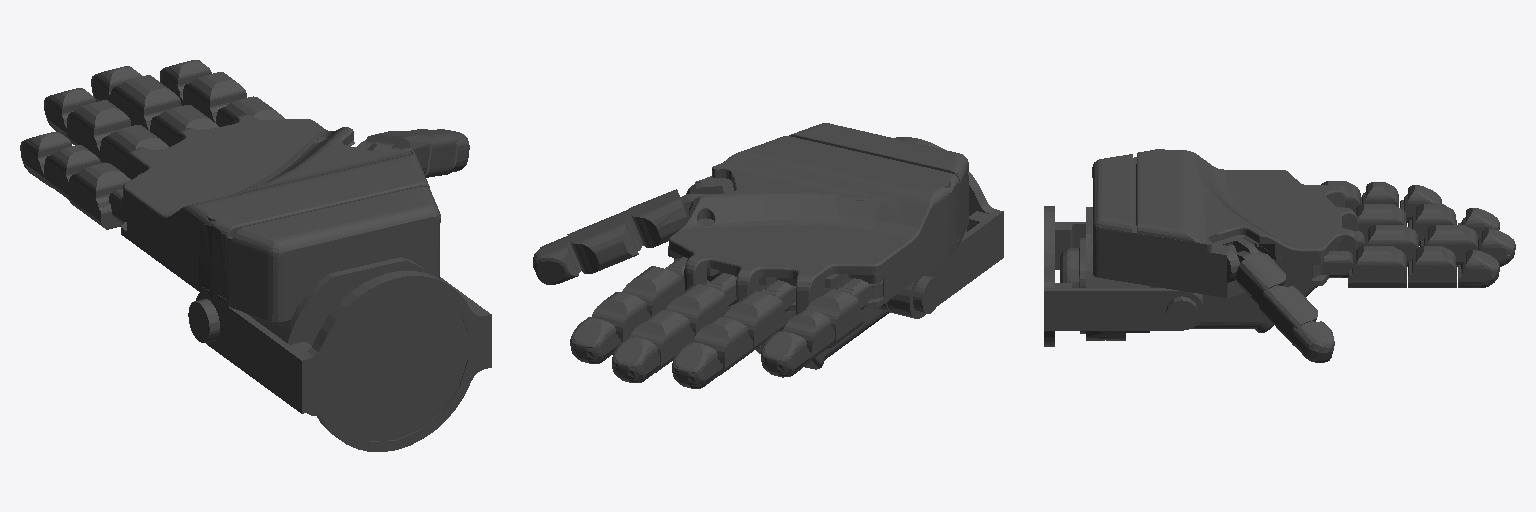
--- Facts derived from the render (not from the file) ---
Views: 3 orthographic renders of the robot side by side, from view 1: azimuth 30°, elevation 25°; view 2: azimuth 150°, elevation 25°; view 3: azimuth 270°, elevation 25°.
Robot: ur5 — 51 links, 50 joints (40 revolute, 10 fixed); root link world; default pose: all joints at 0.
Links seen in each view (by area): view 1: qbshin_palm_link, qbshin_base_link, qbshin_little_proximal_link, qbshin_middle_middle_link, qbshin_ring_middle_link, qbshin_index_middle_link, qbshin_ring_proximal_link, qbshin_little_middle_link, qbshin_middle_proximal_link, qbshin_little_distal_link, qbshin_ring_distal_link, qbshin_thumb_proximal_link (+5 smaller); view 2: qbshin_palm_link, qbshin_base_link, qbshin_thumb_proximal_link, qbshin_thumb_knuckle_link, qbshin_ring_proximal_link, qbshin_middle_middle_link, qbshin_ring_middle_link, qbshin_ring_distal_link, qbshin_little_distal_link, qbshin_middle_proximal_link, qbshin_index_distal_link, qbshin_index_proximal_link (+8 smaller); view 3: qbshin_palm_link, qbshin_base_link, qbshin_index_proximal_link, qbshin_thumb_proximal_link, qbshin_index_middle_link, qbshin_thumb_knuckle_link, qbshin_thumb_distal_link, qbshin_middle_middle_link, qbshin_index_distal_link, qbshin_middle_proximal_link, qbshin_ring_proximal_link, qbshin_ring_middle_link (+5 smaller).
Boxes of the visible links, left/top/right/bottom form: qbshin_palm_link: left=121, top=115, right=440, bottom=415; qbshin_base_link: left=188, top=271, right=491, bottom=451; qbshin_little_proximal_link: left=69, top=162, right=130, bottom=229; qbshin_middle_middle_link: left=110, top=75, right=180, bottom=130; qbshin_ring_middle_link: left=67, top=100, right=130, bottom=161; qbshin_index_middle_link: left=183, top=72, right=246, bottom=122; qbshin_ring_proximal_link: left=100, top=125, right=168, bottom=173; qbshin_little_middle_link: left=44, top=145, right=100, bottom=199; qbshin_middle_proximal_link: left=150, top=105, right=218, bottom=146; qbshin_little_distal_link: left=20, top=132, right=71, bottom=187; qbshin_ring_distal_link: left=44, top=88, right=95, bottom=136; qbshin_thumb_proximal_link: left=405, top=129, right=457, bottom=177; qbshin_palm_link: left=668, top=123, right=968, bottom=369; qbshin_base_link: left=887, top=137, right=1003, bottom=318; qbshin_thumb_proximal_link: left=567, top=209, right=643, bottom=273; qbshin_thumb_knuckle_link: left=629, top=189, right=704, bottom=247; qbshin_ring_proximal_link: left=724, top=291, right=787, bottom=351; qbshin_middle_middle_link: left=630, top=309, right=694, bottom=372; qbshin_ring_middle_link: left=693, top=317, right=752, bottom=375; qbshin_ring_distal_link: left=672, top=342, right=722, bottom=388; qbshin_little_distal_link: left=761, top=331, right=811, bottom=377; qbshin_middle_proximal_link: left=666, top=284, right=729, bottom=335; qbshin_index_distal_link: left=570, top=317, right=620, bottom=363; qbshin_index_proximal_link: left=622, top=266, right=684, bottom=315; qbshin_palm_link: left=1060, top=149, right=1357, bottom=340; qbshin_base_link: left=1044, top=206, right=1203, bottom=346; qbshin_index_proximal_link: left=1348, top=246, right=1406, bottom=287; qbshin_thumb_proximal_link: left=1259, top=285, right=1317, bottom=345; qbshin_index_middle_link: left=1408, top=246, right=1456, bottom=287; qbshin_thumb_knuckle_link: left=1235, top=251, right=1285, bottom=305; qbshin_thumb_distal_link: left=1290, top=321, right=1334, bottom=362; qbshin_middle_middle_link: left=1420, top=225, right=1477, bottom=266; qbshin_index_distal_link: left=1458, top=250, right=1499, bottom=287; qbshin_middle_proximal_link: left=1365, top=225, right=1418, bottom=266; qbshin_ring_proximal_link: left=1356, top=204, right=1406, bottom=236; qbshin_ring_middle_link: left=1408, top=204, right=1456, bottom=245.
Bounding box of the posed robot: 0.1598 × 0.2363 × 0.0839 m (x, y, z).
Meshes: 17 distinct files referenced, 21 mesh visuals loaded (10 binary STL); not drawn: 7 (reference not matched to a file when rendering).

The robot description file, URDF, robot "ur5":
<?xml version="1.0" ?>
<!-- =================================================================================== -->
<!-- |    This document was autogenerated by xacro from ur.urdf.xacro                  | -->
<!-- |    EDITING THIS FILE BY HAND IS NOT RECOMMENDED                                 | -->
<!-- =================================================================================== -->
<robot name="ur5">
  <!--
    Base UR robot series xacro macro.

    NOTE this is NOT a URDF. It cannot directly be loaded by consumers
    expecting a flattened '.urdf' file. See the top-level '.xacro' for that
    (but note that .xacro must still be processed by the xacro command).

    This file models the base kinematic chain of a UR robot, which then gets
    parameterised by various configuration files to convert it into a UR3(e),
    UR5(e), UR10(e) or UR16e.

    NOTE the default kinematic parameters (i.e., link lengths, frame locations,
    offsets, etc) do not correspond to any particular robot. They are defaults
    only. There WILL be non-zero offsets between the Forward Kinematics results
    in TF (i.e., robot_state_publisher) and the values reported by the Teach
    Pendant.

    For accurate (and robot-specific) transforms, the 'kinematics_parameters_file'
    parameter MUST point to a .yaml file containing the appropriate values for
    the targeted robot.

    If using the UniversalRobots/Universal_Robots_ROS_Driver, follow the steps
    described in the readme of that repository to extract the kinematic
    calibration from the controller and generate the required .yaml file.

    Main author of the migration to yaml configs Ludovic Delval.

    Contributors to previous versions (in no particular order)

     - Denis Stogl
     - Lovro Ivanov
     - Felix Messmer
     - Kelsey Hawkins
     - Wim Meeussen
     - Shaun Edwards
     - Nadia Hammoudeh Garcia
     - Dave Hershberger
     - G. vd. Hoorn
     - Philip Long
     - Dave Coleman
     - Miguel Prada
     - Mathias Luedtke
     - Marcel Schnirring
     - Felix von Drigalski
     - Felix Exner
     - Jimmy Da Silva
     - Ajit Krisshna N L
     - Muhammad Asif Rana
  -->
  <!--
    NOTE the macro defined in this file is NOT part of the public API of this
          package. Users CANNOT rely on this file being available, or stored in
          this location. Nor can they rely on the existence of the macro.
  -->
  <!-- create link fixed to the "world" -->
  <link name="world"/>
  <ros2_control name="ur" type="system">
    <hardware>
      <plugin>ur_robot_driver/URPositionHardwareInterface</plugin>
      <param name="robot_ip">0.0.0.0</param>
      <param name="script_filename"></param>
      <param name="output_recipe_filename"></param>
      <param name="input_recipe_filename"></param>
      <param name="headless_mode">False</param>
      <param name="reverse_port">50001</param>
      <param name="script_sender_port">50002</param>
      <param name="reverse_ip">0.0.0.0</param>
      <param name="script_command_port">50004</param>
      <param name="trajectory_port">50003</param>
      <param name="tf_prefix"></param>
      <param name="non_blocking_read">False</param>
      <param name="servoj_gain">2000</param>
      <param name="servoj_lookahead_time">0.03</param>
      <param name="use_tool_communication">False</param>
      <param name="kinematics/hash">calib_209549117540498681</param>
      <param name="tool_voltage">0</param>
      <param name="tool_parity">0</param>
      <param name="tool_baud_rate">115200</param>
      <param name="tool_stop_bits">1</param>
      <param name="tool_rx_idle_chars">1.5</param>
      <param name="tool_tx_idle_chars">3.5</param>
      <param name="tool_device_name">/tmp/ttyUR</param>
      <param name="tool_tcp_port">54321</param>
      <param name="keep_alive_count">2</param>
    </hardware>
    <joint name="shoulder_pan_joint">
      <command_interface name="position">
        <param name="min">{-2*pi}</param>
        <param name="max">{2*pi}</param>
      </command_interface>
      <command_interface name="velocity">
        <param name="min">-3.15</param>
        <param name="max">3.15</param>
      </command_interface>
      <state_interface name="position">
        <!-- initial position for the FakeSystem and simulation -->
        <param name="initial_value">0.0</param>
      </state_interface>
      <state_interface name="velocity"/>
      <state_interface name="effort"/>
    </joint>
    <joint name="shoulder_lift_joint">
      <command_interface name="position">
        <param name="min">{-2*pi}</param>
        <param name="max">{2*pi}</param>
      </command_interface>
      <command_interface name="velocity">
        <param name="min">-3.15</param>
        <param name="max">3.15</param>
      </command_interface>
      <state_interface name="position">
        <!-- initial position for the FakeSystem and simulation -->
        <param name="initial_value">-1.57</param>
      </state_interface>
      <state_interface name="velocity"/>
      <state_interface name="effort"/>
    </joint>
    <joint name="elbow_joint">
      <command_interface name="position">
        <param name="min">{-pi}</param>
        <param name="max">{pi}</param>
      </command_interface>
      <command_interface name="velocity">
        <param name="min">-3.15</param>
        <param name="max">3.15</param>
      </command_interface>
      <state_interface name="position">
        <!-- initial position for the FakeSystem and simulation -->
        <param name="initial_value">0.0</param>
      </state_interface>
      <state_interface name="velocity"/>
      <state_interface name="effort"/>
    </joint>
    <joint name="wrist_1_joint">
      <command_interface name="position">
        <param name="min">{-2*pi}</param>
        <param name="max">{2*pi}</param>
      </command_interface>
      <command_interface name="velocity">
        <param name="min">-3.2</param>
        <param name="max">3.2</param>
      </command_interface>
      <state_interface name="position">
        <!-- initial position for the FakeSystem and simulation -->
        <param name="initial_value">-1.57</param>
      </state_interface>
      <state_interface name="velocity"/>
      <state_interface name="effort"/>
    </joint>
    <joint name="wrist_2_joint">
      <command_interface name="position">
        <param name="min">{-2*pi}</param>
        <param name="max">{2*pi}</param>
      </command_interface>
      <command_interface name="velocity">
        <param name="min">-3.2</param>
        <param name="max">3.2</param>
      </command_interface>
      <state_interface name="position">
        <!-- initial position for the FakeSystem and simulation -->
        <param name="initial_value">0.0</param>
      </state_interface>
      <state_interface name="velocity"/>
      <state_interface name="effort"/>
    </joint>
    <joint name="wrist_3_joint">
      <command_interface name="position">
        <param name="min">{-2*pi}</param>
        <param name="max">{2*pi}</param>
      </command_interface>
      <command_interface name="velocity">
        <param name="min">-3.2</param>
        <param name="max">3.2</param>
      </command_interface>
      <state_interface name="position">
        <!-- initial position for the FakeSystem and simulation -->
        <param name="initial_value">0.0</param>
      </state_interface>
      <state_interface name="velocity"/>
      <state_interface name="effort"/>
    </joint>
    <sensor name="tcp_fts_sensor">
      <state_interface name="force.x"/>
      <state_interface name="force.y"/>
      <state_interface name="force.z"/>
      <state_interface name="torque.x"/>
      <state_interface name="torque.y"/>
      <state_interface name="torque.z"/>
    </sensor>
    <!-- NOTE The following are joints used only for testing with fake hardware and will change in the future -->
    <gpio name="speed_scaling">
      <state_interface name="speed_scaling_factor"/>
      <param name="initial_speed_scaling_factor">1</param>
      <command_interface name="target_speed_fraction_cmd"/>
      <command_interface name="target_speed_fraction_async_success"/>
    </gpio>
    <gpio name="gpio">
      <command_interface name="standard_digital_output_cmd_0"/>
      <command_interface name="standard_digital_output_cmd_1"/>
      <command_interface name="standard_digital_output_cmd_2"/>
      <command_interface name="standard_digital_output_cmd_3"/>
      <command_interface name="standard_digital_output_cmd_4"/>
      <command_interface name="standard_digital_output_cmd_5"/>
      <command_interface name="standard_digital_output_cmd_6"/>
      <command_interface name="standard_digital_output_cmd_7"/>
      <command_interface name="standard_digital_output_cmd_8"/>
      <command_interface name="standard_digital_output_cmd_9"/>
      <command_interface name="standard_digital_output_cmd_10"/>
      <command_interface name="standard_digital_output_cmd_11"/>
      <command_interface name="standard_digital_output_cmd_12"/>
      <command_interface name="standard_digital_output_cmd_13"/>
      <command_interface name="standard_digital_output_cmd_14"/>
      <command_interface name="standard_digital_output_cmd_15"/>
      <command_interface name="standard_digital_output_cmd_16"/>
      <command_interface name="standard_digital_output_cmd_17"/>
      <command_interface name="standard_analog_output_cmd_0"/>
      <command_interface name="standard_analog_output_cmd_1"/>
      <command_interface name="tool_voltage_cmd"/>
      <command_interface name="io_async_success"/>
      <state_interface name="digital_output_0"/>
      <state_interface name="digital_output_1"/>
      <state_interface name="digital_output_2"/>
      <state_interface name="digital_output_3"/>
      <state_interface name="digital_output_4"/>
      <state_interface name="digital_output_5"/>
      <state_interface name="digital_output_6"/>
      <state_interface name="digital_output_7"/>
      <state_interface name="digital_output_8"/>
      <state_interface name="digital_output_9"/>
      <state_interface name="digital_output_10"/>
      <state_interface name="digital_output_11"/>
      <state_interface name="digital_output_12"/>
      <state_interface name="digital_output_13"/>
      <state_interface name="digital_output_14"/>
      <state_interface name="digital_output_15"/>
      <state_interface name="digital_output_16"/>
      <state_interface name="digital_output_17"/>
      <state_interface name="digital_input_0"/>
      <state_interface name="digital_input_1"/>
      <state_interface name="digital_input_2"/>
      <state_interface name="digital_input_3"/>
      <state_interface name="digital_input_4"/>
      <state_interface name="digital_input_5"/>
      <state_interface name="digital_input_6"/>
      <state_interface name="digital_input_7"/>
      <state_interface name="digital_input_8"/>
      <state_interface name="digital_input_9"/>
      <state_interface name="digital_input_10"/>
      <state_interface name="digital_input_11"/>
      <state_interface name="digital_input_12"/>
      <state_interface name="digital_input_13"/>
      <state_interface name="digital_input_14"/>
      <state_interface name="digital_input_15"/>
      <state_interface name="digital_input_16"/>
      <state_interface name="digital_input_17"/>
      <state_interface name="standard_analog_output_0"/>
      <state_interface name="standard_analog_output_1"/>
      <state_interface name="standard_analog_input_0"/>
      <state_interface name="standard_analog_input_1"/>
      <state_interface name="analog_io_type_0"/>
      <state_interface name="analog_io_type_1"/>
      <state_interface name="analog_io_type_2"/>
      <state_interface name="analog_io_type_3"/>
      <state_interface name="tool_mode"/>
      <state_interface name="tool_output_voltage"/>
      <state_interface name="tool_output_current"/>
      <state_interface name="tool_temperature"/>
      <state_interface name="tool_analog_input_0"/>
      <state_interface name="tool_analog_input_1"/>
      <state_interface name="tool_analog_input_type_0"/>
      <state_interface name="tool_analog_input_type_1"/>
      <state_interface name="robot_mode"/>
      <state_interface name="robot_status_bit_0"/>
      <state_interface name="robot_status_bit_1"/>
      <state_interface name="robot_status_bit_2"/>
      <state_interface name="robot_status_bit_3"/>
      <state_interface name="safety_mode"/>
      <state_interface name="safety_status_bit_0"/>
      <state_interface name="safety_status_bit_1"/>
      <state_interface name="safety_status_bit_2"/>
      <state_interface name="safety_status_bit_3"/>
      <state_interface name="safety_status_bit_4"/>
      <state_interface name="safety_status_bit_5"/>
      <state_interface name="safety_status_bit_6"/>
      <state_interface name="safety_status_bit_7"/>
      <state_interface name="safety_status_bit_8"/>
      <state_interface name="safety_status_bit_9"/>
      <state_interface name="safety_status_bit_10"/>
      <state_interface name="program_running"/>
    </gpio>
    <gpio name="payload">
      <command_interface name="mass"/>
      <command_interface name="cog.x"/>
      <command_interface name="cog.y"/>
      <command_interface name="cog.z"/>
      <command_interface name="payload_async_success"/>
    </gpio>
    <gpio name="resend_robot_program">
      <command_interface name="resend_robot_program_cmd"/>
      <command_interface name="resend_robot_program_async_success"/>
    </gpio>
    <gpio name="hand_back_control">
      <command_interface name="hand_back_control_cmd"/>
      <command_interface name="hand_back_control_async_success"/>
    </gpio>
    <gpio name="zero_ftsensor">
      <command_interface name="zero_ftsensor_cmd"/>
      <command_interface name="zero_ftsensor_async_success"/>
    </gpio>
    <gpio name="system_interface">
      <state_interface name="initialized"/>
    </gpio>
  </ros2_control>
  <!-- Add URDF transmission elements (for ros_control) -->
  <!--<xacro:ur_arm_transmission prefix="${prefix}" hw_interface="${transmission_hw_interface}" />-->
  <!-- Placeholder for ros2_control transmission which don't yet exist -->
  <!-- links -  main serial chain -->
  <link name="base_link"/>
  <link name="base_link_inertia">
    <visual>
      <origin rpy="0 0 3.141592653589793" xyz="0 0 0"/>
      <geometry>
        <mesh filename="ur5/visual/base.dae"/>
      </geometry>
    </visual>
    <collision>
      <origin rpy="0 0 3.141592653589793" xyz="0 0 0"/>
      <geometry>
        <mesh filename="ur5/collision/base.stl"/>
      </geometry>
    </collision>
    <inertial>
      <mass value="4.0"/>
      <origin rpy="0 0 0" xyz="0 0 0"/>
      <inertia ixx="0.00443333156" ixy="0.0" ixz="0.0" iyy="0.00443333156" iyz="0.0" izz="0.0072"/>
    </inertial>
  </link>
  <link name="shoulder_link">
    <visual>
      <origin rpy="0 0 3.141592653589793" xyz="0 0 0"/>
      <geometry>
        <mesh filename="ur5/visual/shoulder.dae"/>
      </geometry>
    </visual>
    <collision>
      <origin rpy="0 0 3.141592653589793" xyz="0 0 0"/>
      <geometry>
        <mesh filename="ur5/collision/shoulder.stl"/>
      </geometry>
    </collision>
    <inertial>
      <mass value="3.7"/>
      <origin rpy="0 0 0" xyz="0 0 0"/>
      <inertia ixx="0.014972352344389999" ixy="0.0" ixz="0.0" iyy="0.014972352344389999" iyz="0.0" izz="0.01040625"/>
    </inertial>
  </link>
  <link name="upper_arm_link">
    <visual>
      <origin rpy="1.5707963267948966 0 -1.5707963267948966" xyz="0 0 0.13585"/>
      <geometry>
        <mesh filename="ur5/visual/upperarm.dae"/>
      </geometry>
    </visual>
    <collision>
      <origin rpy="1.5707963267948966 0 -1.5707963267948966" xyz="0 0 0.13585"/>
      <geometry>
        <mesh filename="ur5/collision/upperarm.stl"/>
      </geometry>
    </collision>
    <inertial>
      <mass value="8.393"/>
      <origin rpy="0 1.5707963267948966 0" xyz="-0.2125 0.0 0.136"/>
      <inertia ixx="0.1338857818623325" ixy="0.0" ixz="0.0" iyy="0.1338857818623325" iyz="0.0" izz="0.0151074"/>
    </inertial>
  </link>
  <link name="forearm_link">
    <visual>
      <origin rpy="1.5707963267948966 0 -1.5707963267948966" xyz="0 0 0.0165"/>
      <geometry>
        <mesh filename="ur5/visual/forearm.dae"/>
      </geometry>
    </visual>
    <collision>
      <origin rpy="1.5707963267948966 0 -1.5707963267948966" xyz="0 0 0.0165"/>
      <geometry>
        <mesh filename="ur5/collision/forearm.stl"/>
      </geometry>
    </collision>
    <inertial>
      <mass value="2.275"/>
      <origin rpy="0 1.5707963267948966 0" xyz="-0.196125 0.0 0.0165"/>
      <inertia ixx="0.03121679102890359" ixy="0.0" ixz="0.0" iyy="0.03121679102890359" iyz="0.0" izz="0.004095"/>
    </inertial>
  </link>
  <link name="wrist_1_link">
    <visual>
      <origin rpy="1.5707963267948966 0 0" xyz="0 0 -0.093"/>
      <geometry>
        <mesh filename="ur5/visual/wrist1.dae"/>
      </geometry>
    </visual>
    <collision>
      <origin rpy="1.5707963267948966 0 0" xyz="0 0 -0.093"/>
      <geometry>
        <mesh filename="ur5/collision/wrist1.stl"/>
      </geometry>
    </collision>
    <inertial>
      <mass value="1.219"/>
      <origin rpy="0 0 0" xyz="0 0 0"/>
      <inertia ixx="0.0020138887777775" ixy="0.0" ixz="0.0" iyy="0.0020138887777775" iyz="0.0" izz="0.0021942"/>
    </inertial>
  </link>
  <link name="wrist_2_link">
    <visual>
      <origin rpy="0 0 0" xyz="0 0 -0.095"/>
      <geometry>
        <mesh filename="ur5/visual/wrist2.dae"/>
      </geometry>
    </visual>
    <collision>
      <origin rpy="0 0 0" xyz="0 0 -0.095"/>
      <geometry>
        <mesh filename="ur5/collision/wrist2.stl"/>
      </geometry>
    </collision>
    <inertial>
      <mass value="1.219"/>
      <origin rpy="0 0 0" xyz="0 0 0"/>
      <inertia ixx="0.0018310388509175" ixy="0.0" ixz="0.0" iyy="0.0018310388509175" iyz="0.0" izz="0.0021942"/>
    </inertial>
  </link>
  <link name="wrist_3_link">
    <visual>
      <origin rpy="1.5707963267948966 0 0" xyz="0 0 -0.0818"/>
      <geometry>
        <mesh filename="ur5/visual/wrist3.dae"/>
      </geometry>
    </visual>
    <collision>
      <origin rpy="1.5707963267948966 0 0" xyz="0 0 -0.0818"/>
      <geometry>
        <mesh filename="ur5/collision/wrist3.stl"/>
      </geometry>
    </collision>
    <inertial>
      <mass value="0.1879"/>
      <origin rpy="0 0 0" xyz="0.0 0.0 -0.01525"/>
      <inertia ixx="8.062472608343e-05" ixy="0.0" ixz="0.0" iyy="8.062472608343e-05" iyz="0.0" izz="0.0001321171875"/>
    </inertial>
  </link>
  <!-- base_joint fixes base_link to the environment -->
  <joint name="base_joint" type="fixed">
    <origin rpy="0 0 0" xyz="0 0 0"/>
    <parent link="world"/>
    <child link="base_link"/>
  </joint>
  <!-- joints - main serial chain -->
  <joint name="base_link-base_link_inertia" type="fixed">
    <parent link="base_link"/>
    <child link="base_link_inertia"/>
    <!-- 'base_link' is REP-103 aligned (so X+ forward), while the internal
           frames of the robot/controller have X+ pointing backwards.
           Use the joint between 'base_link' and 'base_link_inertia' (a dummy
           link/frame) to introduce the necessary rotation over Z (of pi rad).
      -->
    <origin rpy="0 0 3.141592653589793" xyz="0 0 0"/>
  </joint>
  <joint name="shoulder_pan_joint" type="revolute">
    <parent link="base_link_inertia"/>
    <child link="shoulder_link"/>
    <origin rpy="0 0 0" xyz="0 0 0.089159"/>
    <axis xyz="0 0 1"/>
    <limit effort="150.0" lower="-6.283185307179586" upper="6.283185307179586" velocity="3.141592653589793"/>
    <dynamics damping="0" friction="0"/>
  </joint>
  <joint name="shoulder_lift_joint" type="revolute">
    <parent link="shoulder_link"/>
    <child link="upper_arm_link"/>
    <origin rpy="1.570796327 0 0" xyz="0 0 0"/>
    <axis xyz="0 0 1"/>
    <limit effort="150.0" lower="-6.283185307179586" upper="6.283185307179586" velocity="3.141592653589793"/>
    <dynamics damping="0" friction="0"/>
  </joint>
  <joint name="elbow_joint" type="revolute">
    <parent link="upper_arm_link"/>
    <child link="forearm_link"/>
    <origin rpy="0 0 0" xyz="-0.425 0 0"/>
    <axis xyz="0 0 1"/>
    <limit effort="150.0" lower="-3.141592653589793" upper="3.141592653589793" velocity="3.141592653589793"/>
    <dynamics damping="0" friction="0"/>
  </joint>
  <joint name="wrist_1_joint" type="revolute">
    <parent link="forearm_link"/>
    <child link="wrist_1_link"/>
    <origin rpy="0 0 0" xyz="-0.39225 0 0.10915"/>
    <axis xyz="0 0 1"/>
    <limit effort="28.0" lower="-6.283185307179586" upper="6.283185307179586" velocity="3.141592653589793"/>
    <dynamics damping="0" friction="0"/>
  </joint>
  <joint name="wrist_2_joint" type="revolute">
    <parent link="wrist_1_link"/>
    <child link="wrist_2_link"/>
    <origin rpy="1.570796327 0 0" xyz="0 -0.09465 -1.941303950897609e-11"/>
    <axis xyz="0 0 1"/>
    <limit effort="28.0" lower="-6.283185307179586" upper="6.283185307179586" velocity="3.141592653589793"/>
    <dynamics damping="0" friction="0"/>
  </joint>
  <joint name="wrist_3_joint" type="revolute">
    <parent link="wrist_2_link"/>
    <child link="wrist_3_link"/>
    <origin rpy="1.570796326589793 3.141592653589793 3.141592653589793" xyz="0 0.0823 -1.688001216681175e-11"/>
    <axis xyz="0 0 1"/>
    <limit effort="28.0" lower="-6.283185307179586" upper="6.283185307179586" velocity="3.141592653589793"/>
    <dynamics damping="0" friction="0"/>
  </joint>
  <link name="ft_frame"/>
  <joint name="wrist_3_link-ft_frame" type="fixed">
    <parent link="wrist_3_link"/>
    <child link="ft_frame"/>
    <origin rpy="3.141592653589793 0 0" xyz="0 0 0"/>
  </joint>
  <!-- ROS-Industrial 'base' frame - base_link to UR 'Base' Coordinates transform -->
  <link name="base"/>
  <joint name="base_link-base_fixed_joint" type="fixed">
    <!-- Note the rotation over Z of pi radians - as base_link is REP-103
           aligned (i.e., has X+ forward, Y+ left and Z+ up), this is needed
           to correctly align 'base' with the 'Base' coordinate system of
           the UR controller.
      -->
    <origin rpy="0 0 3.141592653589793" xyz="0 0 0"/>
    <parent link="base_link"/>
    <child link="base"/>
  </joint>
  <!-- ROS-Industrial 'flange' frame - attachment point for EEF models -->
  <link name="flange"/>
  <joint name="wrist_3-flange" type="fixed">
    <parent link="wrist_3_link"/>
    <child link="flange"/>
    <origin rpy="0 -1.5707963267948966 -1.5707963267948966" xyz="0 0 0"/>
  </joint>
  <!-- ROS-Industrial 'tool0' frame - all-zeros tool frame -->
  <link name="tool0"/>
  <joint name="flange-tool0" type="fixed">
    <!-- default toolframe - X+ left, Y+ up, Z+ front -->
    <origin rpy="1.5707963267948966 0 1.5707963267948966" xyz="0 0 0"/>
    <parent link="flange"/>
    <child link="tool0"/>
  </joint>

  <material name="qbshin/optional">
    <color rgba="0.0 0.5 0.8 1.0"/>
  </material>
  <material name="qbshin/base">
    <color rgba="0.35 0.35 0.35 1.0"/>
  </material>
  <material name="qbshin/palm">
    <color rgba="0.35 0.35 0.35 1.0"/>
  </material>
  <material name="qbshin/knuckle">
    <color rgba="0.35 0.35 0.35 1.0"/>
  </material>
  <material name="qbshin/proximal">
    <color rgba="0.35 0.35 0.35 1.0"/>
  </material>
  <material name="qbshin/middle">
    <color rgba="0.35 0.35 0.35 1.0"/>
  </material>
  <material name="qbshin/distal">
    <color rgba="0.35 0.35 0.35 1.0"/>
  </material>
  <material name="qbshin/default">
    <color rgba="0.35 0.35 0.35 1.0"/>
  </material>
  <link name="root_link"/>
  <joint name="qbshin_base_fixed_joint" type="fixed">
    <origin rpy="0 0 0" xyz="0 0 0"/>
    <parent link="root_link"/>
    <child link="qbshin_base_link"/>
  </joint>
  <link name="qbshin_base_link">
    <inertial>
      <mass value="0.45"/>
      <origin rpy="0 0 0" xyz="0.0030 -0.0449 0.0135"/>
      <inertia ixx="0.00045" ixy="0.0" ixz="0.0" iyy="0.0006" iyz="0.0" izz="0.00025"/>
    </inertial>
    <visual>
      <origin rpy="0 0 0" xyz="0 0 0"/>
      <geometry>
        <mesh filename="package://meshes/shin_wrist_urdf.stl" scale="0.001 0.001 0.001"/>
      </geometry>
      <material name="qbshin/base"/>
    </visual>
    <collision>
      <origin rpy="0 0 0" xyz="0 0 0"/>
      <geometry>
        <mesh filename="package://meshes/shin_wrist_urdf.stl" scale="0.001 0.001 0.001"/>
      </geometry>
    </collision>
  </link>
  <gazebo reference="qbshin_base_link">
    <self_collide>1</self_collide>
    <!-- TODO: add other Gazebo Link properties (http://sdformat.org/spec?elem=link) -->
    <!--      <collision>-->
    <!--        <surface>-->
    <!--          <contact>-->
    <!--            <ode>-->
    <!--              <kp>1.0</kp>-->
    <!--              <kd>0.01</kd>-->
    <!--              <max_vel>0.0</max_vel>-->
    <!--              <min_depth>0.001</min_depth>-->
    <!--            </ode>-->
    <!--          </contact>-->
    <!--          <friction>-->
    <!--            <ode>-->
    <!--              <mu>0.9</mu>-->
    <!--              <mu2>0.9</mu2>-->
    <!--            </ode>-->
    <!--          </friction>-->
    <!--        </surface>-->
    <!--      </collision>-->
  </gazebo>
  <joint name="qbshin_palm_fixed_joint" type="fixed">
    <origin rpy="1.57 0 0" xyz="-0.005 0.0 0.071"/>
    <parent link="qbshin_base_link"/>
    <child link="qbshin_palm_link"/>
  </joint>
  <link name="qbshin_palm_link">
    <inertial>
      <mass value="0.45"/>
      <origin rpy="0 0 0" xyz="0.0030 -0.0449 -0.0135"/>
      <inertia ixx="0.00045" ixy="0.0" ixz="0.0" iyy="0.0006" iyz="0.0" izz="0.00025"/>
    </inertial>
    <visual>
      <origin rpy="0 0 0" xyz="0 0 0"/>
      <geometry>
        <mesh filename="package://meshes/shin_frame_urdf.stl" scale="0.001 0.001 0.001"/>
      </geometry>
      <material name="qbshin/palm"/>
    </visual>
    <collision>
      <origin rpy="0 0 0" xyz="0 0 0"/>
      <geometry>
        <mesh filename="package://meshes/shin_frame_urdf.stl" scale="0.001 0.001 0.001"/>
      </geometry>
    </collision>
  </link>
  <gazebo reference="qbshin_palm_link">
    <self_collide>1</self_collide>
    <!-- TODO: add other Gazebo Link properties (http://sdformat.org/spec?elem=link) -->
    <!--      <collision>-->
    <!--        <surface>-->
    <!--          <contact>-->
    <!--            <ode>-->
    <!--              <kp>1.0</kp>-->
    <!--              <kd>0.01</kd>-->
    <!--              <max_vel>0.0</max_vel>-->
    <!--              <min_depth>0.001</min_depth>-->
    <!--            </ode>-->
    <!--          </contact>-->
    <!--          <friction>-->
    <!--            <ode>-->
    <!--              <mu>0.9</mu>-->
    <!--              <mu2>0.9</mu2>-->
    <!--            </ode>-->
    <!--          </friction>-->
    <!--        </surface>-->
    <!--      </collision>-->
  </gazebo>
  <joint name="qbshin_synergy_joint" type="revolute">
    <origin rpy="0 0 0" xyz="0 0 0"/>
    <parent link="qbshin_palm_link"/>
    <child link="qbshin_synergy_tendon_virtual_link"/>
    <axis xyz="0 0 1"/>
    <dynamics damping="0.0" friction="0.0"/>
    <limit effort="100" lower="0.0" upper="1.0" velocity="100"/>
  </joint>
  <transmission name="qbshin_synergy_transmission">
    <type>transmission_interface/qbMoveTransmission</type>
    <joint name="qbshin_synergy_joint">
      <hardwareInterface>hardware_interface/EffortJointInterface</hardwareInterface>
    </joint>
    <actuator name="qbshin_synergy_joint">
      <hardwareInterface>hardware_interface/EffortJointInterface</hardwareInterface>
    </actuator>
  </transmission>
  <link name="qbshin_synergy_tendon_virtual_link">
    <inertial>
      <origin rpy="0 0 0" xyz="0 0 0"/>
      <mass value="1e-4"/>
      <inertia ixx="1e-9" ixy="0.0" ixz="0.0" iyy="1e-9" iyz="0.0" izz="1e-9"/>
    </inertial>
  </link>
  <joint name="qbshin_thumb_knuckle_joint" type="revolute">
    <origin rpy="-1.57 3.5 -0.68" xyz="-0.044 0.027 -0.03"/>
    <parent link="qbshin_palm_link"/>
    <child link="qbshin_thumb_knuckle_link"/>
    <axis xyz="0 0 -1"/>
    <dynamics damping="0.0" friction="0.0"/>
    <limit effort="100" lower="0.0" upper="1.571" velocity="100"/>
    <mimic joint="qbshin_synergy_joint" multiplier="2.542"/>
  </joint>
  <transmission name="qbshin_transmission">
    <type>transmission_interface/qbMoveTransmission</type>
    <joint name="qbshin_thumb_knuckle_joint">
      <hardwareInterface>hardware_interface/EffortJointInterface</hardwareInterface>
    </joint>
    <actuator name="qbshin_thumb_knuckle_joint">
      <hardwareInterface>hardware_interface/EffortJointInterface</hardwareInterface>
    </actuator>
  </transmission>
  <gazebo reference="qbshin_thumb_knuckle_joint">
    <!-- TODO: add other Gazebo Joint properties (http://sdformat.org/spec?elem=joint) -->
  </gazebo>
  <link name="qbshin_thumb_knuckle_link">
    <inertial>
      <mass value="0.01"/>
      <origin rpy="0 0 0" xyz="1.3071561e-02 -2.7357764e-03 6.4347823e-04"/>
      <inertia ixx="3.5865978e-07" ixy="2.0944224e-07" ixz="-6.8657569e-08" iyy="1.3885564e-06" iyz="3.2170608e-08" izz="1.3571203e-06"/>
    </inertial>
    <visual>
      <origin rpy="0 0 0" xyz="0 0 0"/>
      <geometry>
        <mesh filename="package://meshes/sh_ph_thumb_inj_d9_r_urdf.stl" scale="0.001 0.001 0.001"/>
      </geometry>
      <material name="qbshin/knuckle"/>
    </visual>
    <collision>
      <origin rpy="0 0 0" xyz="0 0 0"/>
      <geometry>
        <mesh filename="package://meshes/sh_ph_thumb_inj_d9_r_urdf.stl" scale="0.001 0.001 0.001"/>
      </geometry>
    </collision>
  </link>
  <gazebo reference="qbshin_thumb_knuckle_link">
    <self_collide>1</self_collide>
    <!-- TODO: add other Gazebo Link properties (http://sdformat.org/spec?elem=link) -->
    <!--      <collision>-->
    <!--        <surface>-->
    <!--          <contact>-->
    <!--            <ode>-->
    <!--              <kp>1.0</kp>-->
    <!--              <kd>0.01</kd>-->
    <!--              <max_vel>0.0</max_vel>-->
    <!--              <min_depth>0.001</min_depth>-->
    <!--            </ode>-->
    <!--          </contact>-->
    <!--          <friction>-->
    <!--            <ode>-->
    <!--              <mu>0.9</mu>-->
    <!--              <mu2>0.9</mu2>-->
    <!--            </ode>-->
    <!--          </friction>-->
    <!--        </surface>-->
    <!--      </collision>-->
  </gazebo>
  <joint name="qbshin_thumb_proximal_joint" type="revolute">
    <origin rpy="-1.57 0.0 0.0" xyz="0.02 -0.003 0"/>
    <parent link="qbshin_thumb_knuckle_link"/>
    <child link="qbshin_thumb_proximal_virtual_link"/>
    <axis xyz="0 0 -1"/>
    <dynamics damping="0.0" friction="0.0"/>
    <limit effort="100" lower="0.0" upper="0.785" velocity="100"/>
    <mimic joint="qbshin_synergy_joint" multiplier="0.785"/>
  </joint>
  <transmission name="qbshin_transmission">
    <type>transmission_interface/qbMoveTransmission</type>
    <joint name="qbshin_thumb_proximal_joint">
      <hardwareInterface>hardware_interface/EffortJointInterface</hardwareInterface>
    </joint>
    <actuator name="qbshin_thumb_proximal_joint">
      <hardwareInterface>hardware_interface/EffortJointInterface</hardwareInterface>
    </actuator>
  </transmission>
  <gazebo reference="qbshin_thumb_proximal_joint">
    <!-- TODO: add other Gazebo Joint properties (http://sdformat.org/spec?elem=joint) -->
  </gazebo>
  <link name="qbshin_thumb_proximal_virtual_link">
    <inertial>
      <origin rpy="0 0 0" xyz="0 0 0"/>
      <mass value="1e-4"/>
      <inertia ixx="1e-9" ixy="0.0" ixz="0.0" iyy="1e-9" iyz="0.0" izz="1e-9"/>
    </inertial>
  </link>
  <joint name="qbshin_thumb_proximal_virtual_joint" type="revolute">
    <origin rpy="0 0 0" xyz="0.013 0 0"/>
    <parent link="qbshin_thumb_proximal_virtual_link"/>
    <child link="qbshin_thumb_proximal_link"/>
    <axis xyz="0 0 -1"/>
    <dynamics damping="0.0" friction="0.0"/>
    <limit effort="100" lower="0.0" upper="0.785" velocity="100"/>
    <mimic joint="qbshin_thumb_proximal_joint" multiplier="1.0"/>
  </joint>
  <transmission name="qbshin_transmission">
    <type>transmission_interface/qbMoveTransmission</type>
    <joint name="qbshin_thumb_proximal_virtual_joint">
      <hardwareInterface>hardware_interface/EffortJointInterface</hardwareInterface>
    </joint>
    <actuator name="qbshin_thumb_proximal_virtual_joint">
      <hardwareInterface>hardware_interface/EffortJointInterface</hardwareInterface>
    </actuator>
  </transmission>
  <gazebo reference="qbshin_thumb_proximal_virtual_joint">
    <!-- TODO: add other Gazebo Joint properties (http://sdformat.org/spec?elem=joint) -->
  </gazebo>
  <link name="qbshin_thumb_proximal_link">
    <inertial>
      <mass value="0.0082"/>
      <origin rpy="0 0 0" xyz="8.7707437e-03 -1.7863138e-03 0.0"/>
      <inertia ixx="2.2722068e-07" ixy="1.1586053e-08" ixz="0.0" iyy="5.5947233e-07" iyz="0.0" izz="5.9562195e-07"/>
    </inertial>
    <visual>
      <origin rpy="0 0 0" xyz="0 0 0"/>
      <geometry>
        <mesh filename="package://meshes/mc_h_pad_30_urdf.stl" scale="0.001 0.001 0.001"/>
      </geometry>
      <material name="qbshin/proximal"/>
    </visual>
    <collision>
      <origin rpy="0 0 0" xyz="0 0 0"/>
      <geometry>
        <mesh filename="package://meshes/mc_h_pad_30_urdf.stl" scale="0.001 0.001 0.001"/>
      </geometry>
    </collision>
  </link>
  <gazebo reference="qbshin_thumb_proximal_link">
    <self_collide>1</self_collide>
    <!-- TODO: add other Gazebo Link properties (http://sdformat.org/spec?elem=link) -->
    <!--      <collision>-->
    <!--        <surface>-->
    <!--          <contact>-->
    <!--            <ode>-->
    <!--              <kp>1.0</kp>-->
    <!--              <kd>0.01</kd>-->
    <!--              <max_vel>0.0</max_vel>-->
    <!--              <min_depth>0.001</min_depth>-->
    <!--            </ode>-->
    <!--          </contact>-->
    <!--          <friction>-->
    <!--            <ode>-->
    <!--              <mu>0.9</mu>-->
    <!--              <mu2>0.9</mu2>-->
    <!--            </ode>-->
    <!--          </friction>-->
    <!--        </surface>-->
    <!--      </collision>-->
  </gazebo>
  <joint name="qbshin_thumb_distal_joint" type="revolute">
    <origin rpy="0.0 0.0 0.0" xyz="0.014 0.002 0"/>
    <parent link="qbshin_thumb_proximal_link"/>
    <child link="qbshin_thumb_distal_virtual_link"/>
    <axis xyz="0 0 -1"/>
    <dynamics damping="0.0" friction="0.0"/>
    <limit effort="100" lower="0.0" upper="0.785" velocity="100"/>
    <mimic joint="qbshin_synergy_joint" multiplier="0.785"/>
  </joint>
  <transmission name="qbshin_transmission">
    <type>transmission_interface/qbMoveTransmission</type>
    <joint name="qbshin_thumb_distal_joint">
      <hardwareInterface>hardware_interface/EffortJointInterface</hardwareInterface>
    </joint>
    <actuator name="qbshin_thumb_distal_joint">
      <hardwareInterface>hardware_interface/EffortJointInterface</hardwareInterface>
    </actuator>
  </transmission>
  <gazebo reference="qbshin_thumb_distal_joint">
    <!-- TODO: add other Gazebo Joint properties (http://sdformat.org/spec?elem=joint) -->
  </gazebo>
  <link name="qbshin_thumb_distal_virtual_link">
    <inertial>
      <origin rpy="0 0 0" xyz="0 0 0"/>
      <mass value="1e-4"/>
      <inertia ixx="1e-9" ixy="0.0" ixz="0.0" iyy="1e-9" iyz="0.0" izz="1e-9"/>
    </inertial>
  </link>
  <joint name="qbshin_thumb_distal_virtual_joint" type="revolute">
    <origin rpy="0 0 0" xyz="0.013 0 0"/>
    <parent link="qbshin_thumb_distal_virtual_link"/>
    <child link="qbshin_thumb_distal_link"/>
    <axis xyz="0 0 -1"/>
    <dynamics damping="0.0" friction="0.0"/>
    <limit effort="100" lower="0.0" upper="0.785" velocity="100"/>
    <mimic joint="qbshin_thumb_distal_joint" multiplier="1.0"/>
  </joint>
  <transmission name="qbshin_transmission">
    <type>transmission_interface/qbMoveTransmission</type>
    <joint name="qbshin_thumb_distal_virtual_joint">
      <hardwareInterface>hardware_interface/EffortJointInterface</hardwareInterface>
    </joint>
    <actuator name="qbshin_thumb_distal_virtual_joint">
      <hardwareInterface>hardware_interface/EffortJointInterface</hardwareInterface>
    </actuator>
  </transmission>
  <gazebo reference="qbshin_thumb_distal_virtual_joint">
    <!-- TODO: add other Gazebo Joint properties (http://sdformat.org/spec?elem=joint) -->
  </gazebo>
  <link name="qbshin_thumb_distal_link">
    <inertial>
      <mass value="0.009"/>
      <origin rpy="0 0 0" xyz="8.8025467e-03 -1.7219289e-03 0.0"/>
      <inertia ixx="2.6586142e-07" ixy="1.2416847e-08" ixz="0.0" iyy="5.9935767e-07" iyz="0.0" izz="6.6781963e-07"/>
    </inertial>
    <visual>
      <origin rpy="0 0 0" xyz="0 0 0"/>
      <geometry>
        <mesh filename="package://meshes/mc_h_pad_dist_urdf.stl" scale="0.001 0.001 0.001"/>
      </geometry>
      <material name="qbshin/distal"/>
    </visual>
    <collision>
      <origin rpy="0 0 0" xyz="0 0 0"/>
      <geometry>
        <mesh filename="package://meshes/mc_h_pad_dist_urdf.stl" scale="0.001 0.001 0.001"/>
      </geometry>
    </collision>
  </link>
  <gazebo reference="qbshin_thumb_distal_link">
    <self_collide>1</self_collide>
    <!-- TODO: add other Gazebo Link properties (http://sdformat.org/spec?elem=link) -->
    <!--      <collision>-->
    <!--        <surface>-->
    <!--          <contact>-->
    <!--            <ode>-->
    <!--              <kp>1.0</kp>-->
    <!--              <kd>0.01</kd>-->
    <!--              <max_vel>0.0</max_vel>-->
    <!--              <min_depth>0.001</min_depth>-->
    <!--            </ode>-->
    <!--          </contact>-->
    <!--          <friction>-->
    <!--            <ode>-->
    <!--              <mu>0.9</mu>-->
    <!--              <mu2>0.9</mu2>-->
    <!--            </ode>-->
    <!--          </friction>-->
    <!--        </surface>-->
    <!--      </collision>-->
  </gazebo>
  <joint name="qbshin_index_knuckle_joint" type="revolute">
    <origin rpy="1.57 0 1.57" xyz="-0.032 0.062 -0.022"/>
    <parent link="qbshin_palm_link"/>
    <child link="qbshin_index_knuckle_link"/>
    <axis xyz="0 0 -1"/>
    <dynamics damping="0.0" friction="0.0"/>
    <limit effort="100" lower="-0.524" upper="0.524" velocity="100"/>
    <mimic joint="qbshin_synergy_joint" multiplier="-0.2"/>
  </joint>
  <transmission name="qbshin_transmission">
    <type>transmission_interface/qbMoveTransmission</type>
    <joint name="qbshin_index_knuckle_joint">
      <hardwareInterface>hardware_interface/EffortJointInterface</hardwareInterface>
    </joint>
    <actuator name="qbshin_index_knuckle_joint">
      <hardwareInterface>hardware_interface/EffortJointInterface</hardwareInterface>
    </actuator>
  </transmission>
  <gazebo reference="qbshin_index_knuckle_joint">
    <!-- TODO: add other Gazebo Joint properties (http://sdformat.org/spec?elem=joint) -->
  </gazebo>
  <link name="qbshin_index_knuckle_link">
    <inertial>
      <mass value="0.0095"/>
      <origin rpy="0 0 0" xyz="4.2753603e-04  0.0 -1.4321738e-03"/>
      <inertia ixx="6.4337303e-07" ixy="0.0" ixz="-3.9373913e-08" iyy="1.1253771e-06" iyz="0.0" izz="7.2336948e-07"/>
    </inertial>
    <visual>
      <origin rpy="0 0 0" xyz="0 0 0"/>
      <geometry>
        <mesh filename="package://meshes/sh_ph_prx_inj_d9_l_urdf.stl" scale="0.001 0.001 0.001"/>
      </geometry>
      <material name="qbshin/knuckle"/>
    </visual>
    <collision>
      <origin rpy="0 0 0" xyz="0 0 0"/>
      <geometry>
        <mesh filename="package://meshes/sh_ph_prx_inj_d9_l_urdf.stl" scale="0.001 0.001 0.001"/>
      </geometry>
    </collision>
  </link>
  <gazebo reference="qbshin_index_knuckle_link">
    <self_collide>1</self_collide>
    <!-- TODO: add other Gazebo Link properties (http://sdformat.org/spec?elem=link) -->
    <!--      <collision>-->
    <!--        <surface>-->
    <!--          <contact>-->
    <!--            <ode>-->
    <!--              <kp>1.0</kp>-->
    <!--              <kd>0.01</kd>-->
    <!--              <max_vel>0.0</max_vel>-->
    <!--              <min_depth>0.001</min_depth>-->
    <!--            </ode>-->
    <!--          </contact>-->
    <!--          <friction>-->
    <!--            <ode>-->
    <!--              <mu>0.9</mu>-->
    <!--              <mu2>0.9</mu2>-->
    <!--            </ode>-->
    <!--          </friction>-->
    <!--        </surface>-->
    <!--      </collision>-->
  </gazebo>
  <joint name="qbshin_index_proximal_joint" type="revolute">
    <origin rpy="0.0 0.0 0.0" xyz="0.01 0 0.002"/>
    <parent link="qbshin_index_knuckle_link"/>
    <child link="qbshin_index_proximal_virtual_link"/>
    <axis xyz="0 0 -1"/>
    <dynamics damping="0.0" friction="0.0"/>
    <limit effort="100" lower="0.0" upper="0.785" velocity="100"/>
    <mimic joint="qbshin_synergy_joint" multiplier="0.785"/>
  </joint>
  <transmission name="qbshin_transmission">
    <type>transmission_interface/qbMoveTransmission</type>
    <joint name="qbshin_index_proximal_joint">
      <hardwareInterface>hardware_interface/EffortJointInterface</hardwareInterface>
    </joint>
    <actuator name="qbshin_index_proximal_joint">
      <hardwareInterface>hardware_interface/EffortJointInterface</hardwareInterface>
    </actuator>
  </transmission>
  <gazebo reference="qbshin_index_proximal_joint">
    <!-- TODO: add other Gazebo Joint properties (http://sdformat.org/spec?elem=joint) -->
  </gazebo>
  <link name="qbshin_index_proximal_virtual_link">
    <inertial>
      <origin rpy="0 0 0" xyz="0 0 0"/>
      <mass value="1e-4"/>
      <inertia ixx="1e-9" ixy="0.0" ixz="0.0" iyy="1e-9" iyz="0.0" izz="1e-9"/>
    </inertial>
  </link>
  <joint name="qbshin_index_proximal_virtual_joint" type="revolute">
    <origin rpy="0 0 0" xyz="0.013 0 0"/>
    <parent link="qbshin_index_proximal_virtual_link"/>
    <child link="qbshin_index_proximal_link"/>
    <axis xyz="0 0 -1"/>
    <dynamics damping="0.0" friction="0.0"/>
    <limit effort="100" lower="0.0" upper="0.785" velocity="100"/>
    <mimic joint="qbshin_index_proximal_joint" multiplier="1.0"/>
  </joint>
  <transmission name="qbshin_transmission">
    <type>transmission_interface/qbMoveTransmission</type>
    <joint name="qbshin_index_proximal_virtual_joint">
      <hardwareInterface>hardware_interface/EffortJointInterface</hardwareInterface>
    </joint>
    <actuator name="qbshin_index_proximal_virtual_joint">
      <hardwareInterface>hardware_interface/EffortJointInterface</hardwareInterface>
    </actuator>
  </transmission>
  <gazebo reference="qbshin_index_proximal_virtual_joint">
    <!-- TODO: add other Gazebo Joint properties (http://sdformat.org/spec?elem=joint) -->
  </gazebo>
  <link name="qbshin_index_proximal_link">
    <inertial>
      <mass value="0.0082"/>
      <origin rpy="0 0 0" xyz="8.7707437e-03 -1.7863138e-03 0.0"/>
      <inertia ixx="2.2722068e-07" ixy="1.1586053e-08" ixz="0.0" iyy="5.5947233e-07" iyz="0.0" izz="5.9562195e-07"/>
    </inertial>
    <visual>
      <origin rpy="0 0 0" xyz="0 0 0"/>
      <geometry>
        <mesh filename="package://meshes/mc_h_pad_30_urdf.stl" scale="0.001 0.001 0.001"/>
      </geometry>
      <material name="qbshin/proximal"/>
    </visual>
    <collision>
      <origin rpy="0 0 0" xyz="0 0 0"/>
      <geometry>
        <mesh filename="package://meshes/mc_h_pad_30_urdf.stl" scale="0.001 0.001 0.001"/>
      </geometry>
    </collision>
  </link>
  <gazebo reference="qbshin_index_proximal_link">
    <self_collide>1</self_collide>
    <!-- TODO: add other Gazebo Link properties (http://sdformat.org/spec?elem=link) -->
    <!--      <collision>-->
    <!--        <surface>-->
    <!--          <contact>-->
    <!--            <ode>-->
    <!--              <kp>1.0</kp>-->
    <!--              <kd>0.01</kd>-->
    <!--              <max_vel>0.0</max_vel>-->
    <!--              <min_depth>0.001</min_depth>-->
    <!--            </ode>-->
    <!--          </contact>-->
    <!--          <friction>-->
    <!--            <ode>-->
    <!--              <mu>0.9</mu>-->
    <!--              <mu2>0.9</mu2>-->
    <!--            </ode>-->
    <!--          </friction>-->
    <!--        </surface>-->
    <!--      </collision>-->
  </gazebo>
  <joint name="qbshin_index_middle_joint" type="revolute">
    <origin rpy="0 0 0" xyz="0.017 0 0"/>
    <parent link="qbshin_index_proximal_link"/>
    <child link="qbshin_index_middle_virtual_link"/>
    <axis xyz="0 0 -1"/>
    <dynamics damping="0.0" friction="0.0"/>
    <limit effort="100" lower="0.0" upper="0.785" velocity="100"/>
    <mimic joint="qbshin_synergy_joint" multiplier="0.785"/>
  </joint>
  <transmission name="qbshin_transmission">
    <type>transmission_interface/qbMoveTransmission</type>
    <joint name="qbshin_index_middle_joint">
      <hardwareInterface>hardware_interface/EffortJointInterface</hardwareInterface>
    </joint>
    <actuator name="qbshin_index_middle_joint">
      <hardwareInterface>hardware_interface/EffortJointInterface</hardwareInterface>
    </actuator>
  </transmission>
  <gazebo reference="qbshin_index_middle_joint">
    <!-- TODO: add other Gazebo Joint properties (http://sdformat.org/spec?elem=joint) -->
  </gazebo>
  <link name="qbshin_index_middle_virtual_link">
    <inertial>
      <origin rpy="0 0 0" xyz="0 0 0"/>
      <mass value="1e-4"/>
      <inertia ixx="1e-9" ixy="0.0" ixz="0.0" iyy="1e-9" iyz="0.0" izz="1e-9"/>
    </inertial>
  </link>
  <joint name="qbshin_index_middle_virtual_joint" type="revolute">
    <origin rpy="0 0 0" xyz="0.013 0 0"/>
    <parent link="qbshin_index_middle_virtual_link"/>
    <child link="qbshin_index_middle_link"/>
    <axis xyz="0 0 -1"/>
    <dynamics damping="0.0" friction="0.0"/>
    <limit effort="100" lower="0.0" upper="0.785" velocity="100"/>
    <mimic joint="qbshin_index_middle_joint" multiplier="1.0"/>
  </joint>
  <transmission name="qbshin_transmission">
    <type>transmission_interface/qbMoveTransmission</type>
    <joint name="qbshin_index_middle_virtual_joint">
      <hardwareInterface>hardware_interface/EffortJointInterface</hardwareInterface>
    </joint>
    <actuator name="qbshin_index_middle_virtual_joint">
      <hardwareInterface>hardware_interface/EffortJointInterface</hardwareInterface>
    </actuator>
  </transmission>
  <gazebo reference="qbshin_index_middle_virtual_joint">
    <!-- TODO: add other Gazebo Joint properties (http://sdformat.org/spec?elem=joint) -->
  </gazebo>
  <link name="qbshin_index_middle_link">
    <inertial>
      <mass value="0.0082"/>
      <origin rpy="0 0 0" xyz="8.7707437e-03 -1.7863138e-03 0.0"/>
      <inertia ixx="2.2722068e-07" ixy="1.1586053e-08" ixz="0.0" iyy="5.5947233e-07" iyz="0.0" izz="5.9562195e-07"/>
    </inertial>
    <visual>
      <origin rpy="0 0 0" xyz="0 0 0"/>
      <geometry>
        <mesh filename="package://meshes/mc_h_pad_25_urdf.stl" scale="0.001 0.001 0.001"/>
      </geometry>
      <material name="qbshin/middle"/>
    </visual>
    <collision>
      <origin rpy="0 0 0" xyz="0 0 0"/>
      <geometry>
        <mesh filename="package://meshes/mc_h_pad_25_urdf.stl" scale="0.001 0.001 0.001"/>
      </geometry>
    </collision>
  </link>
  <gazebo reference="qbshin_index_middle_link">
    <self_collide>1</self_collide>
    <!-- TODO: add other Gazebo Link properties (http://sdformat.org/spec?elem=link) -->
    <!--      <collision>-->
    <!--        <surface>-->
    <!--          <contact>-->
    <!--            <ode>-->
    <!--              <kp>1.0</kp>-->
    <!--              <kd>0.01</kd>-->
    <!--              <max_vel>0.0</max_vel>-->
    <!--              <min_depth>0.001</min_depth>-->
    <!--            </ode>-->
    <!--          </contact>-->
    <!--          <friction>-->
    <!--            <ode>-->
    <!--              <mu>0.9</mu>-->
    <!--              <mu2>0.9</mu2>-->
    <!--            </ode>-->
    <!--          </friction>-->
    <!--        </surface>-->
    <!--      </collision>-->
  </gazebo>
  <joint name="qbshin_index_distal_joint" type="revolute">
    <origin rpy="0.0 0.0 0.0" xyz="0.012 0.002 0"/>
    <parent link="qbshin_index_middle_link"/>
    <child link="qbshin_index_distal_virtual_link"/>
    <axis xyz="0 0 -1"/>
    <dynamics damping="0.0" friction="0.0"/>
    <limit effort="100" lower="0.0" upper="0.785" velocity="100"/>
    <mimic joint="qbshin_synergy_joint" multiplier="0.785"/>
  </joint>
  <transmission name="qbshin_transmission">
    <type>transmission_interface/qbMoveTransmission</type>
    <joint name="qbshin_index_distal_joint">
      <hardwareInterface>hardware_interface/EffortJointInterface</hardwareInterface>
    </joint>
    <actuator name="qbshin_index_distal_joint">
      <hardwareInterface>hardware_interface/EffortJointInterface</hardwareInterface>
    </actuator>
  </transmission>
  <gazebo reference="qbshin_index_distal_joint">
    <!-- TODO: add other Gazebo Joint properties (http://sdformat.org/spec?elem=joint) -->
  </gazebo>
  <link name="qbshin_index_distal_virtual_link">
    <inertial>
      <origin rpy="0 0 0" xyz="0 0 0"/>
      <mass value="1e-4"/>
      <inertia ixx="1e-9" ixy="0.0" ixz="0.0" iyy="1e-9" iyz="0.0" izz="1e-9"/>
    </inertial>
  </link>
  <joint name="qbshin_index_distal_virtual_joint" type="revolute">
    <origin rpy="0 0 0" xyz="0.013 0 0"/>
    <parent link="qbshin_index_distal_virtual_link"/>
    <child link="qbshin_index_distal_link"/>
    <axis xyz="0 0 -1"/>
    <dynamics damping="0.0" friction="0.0"/>
    <limit effort="100" lower="0.0" upper="0.785" velocity="100"/>
    <mimic joint="qbshin_index_distal_joint" multiplier="1.0"/>
  </joint>
  <transmission name="qbshin_transmission">
    <type>transmission_interface/qbMoveTransmission</type>
    <joint name="qbshin_index_distal_virtual_joint">
      <hardwareInterface>hardware_interface/EffortJointInterface</hardwareInterface>
    </joint>
    <actuator name="qbshin_index_distal_virtual_joint">
      <hardwareInterface>hardware_interface/EffortJointInterface</hardwareInterface>
    </actuator>
  </transmission>
  <gazebo reference="qbshin_index_distal_virtual_joint">
    <!-- TODO: add other Gazebo Joint properties (http://sdformat.org/spec?elem=joint) -->
  </gazebo>
  <link name="qbshin_index_distal_link">
    <inertial>
      <mass value="0.009"/>
      <origin rpy="0 0 0" xyz="8.8025467e-03 -1.7219289e-03 0.0"/>
      <inertia ixx="2.6586142e-07" ixy="1.2416847e-08" ixz="0.0" iyy="5.9935767e-07" iyz="0.0" izz="6.6781963e-07"/>
    </inertial>
    <visual>
      <origin rpy="0 0 0" xyz="0 0 0"/>
      <geometry>
        <mesh filename="package://meshes/mc_h_pad_dist_urdf.stl" scale="0.001 0.001 0.001"/>
      </geometry>
      <material name="qbshin/distal"/>
    </visual>
    <collision>
      <origin rpy="0 0 0" xyz="0 0 0"/>
      <geometry>
        <mesh filename="package://meshes/mc_h_pad_dist_urdf.stl" scale="0.001 0.001 0.001"/>
      </geometry>
    </collision>
  </link>
  <gazebo reference="qbshin_index_distal_link">
    <self_collide>1</self_collide>
    <!-- TODO: add other Gazebo Link properties (http://sdformat.org/spec?elem=link) -->
    <!--      <collision>-->
    <!--        <surface>-->
    <!--          <contact>-->
    <!--            <ode>-->
    <!--              <kp>1.0</kp>-->
    <!--              <kd>0.01</kd>-->
    <!--              <max_vel>0.0</max_vel>-->
    <!--              <min_depth>0.001</min_depth>-->
    <!--            </ode>-->
    <!--          </contact>-->
    <!--          <friction>-->
    <!--            <ode>-->
    <!--              <mu>0.9</mu>-->
    <!--              <mu2>0.9</mu2>-->
    <!--            </ode>-->
    <!--          </friction>-->
    <!--        </surface>-->
    <!--      </collision>-->
  </gazebo>
  <joint name="qbshin_middle_knuckle_joint" type="revolute">
    <origin rpy="1.57 0 1.57" xyz="-0.005 0.068 -0.022"/>
    <parent link="qbshin_palm_link"/>
    <child link="qbshin_middle_knuckle_link"/>
    <axis xyz="0 0 -1"/>
    <dynamics damping="0.0" friction="0.0"/>
    <limit effort="100" lower="-0.524" upper="0.524" velocity="100"/>
    <mimic joint="qbshin_synergy_joint" multiplier="0.0"/>
  </joint>
  <transmission name="qbshin_transmission">
    <type>transmission_interface/qbMoveTransmission</type>
    <joint name="qbshin_middle_knuckle_joint">
      <hardwareInterface>hardware_interface/EffortJointInterface</hardwareInterface>
    </joint>
    <actuator name="qbshin_middle_knuckle_joint">
      <hardwareInterface>hardware_interface/EffortJointInterface</hardwareInterface>
    </actuator>
  </transmission>
  <gazebo reference="qbshin_middle_knuckle_joint">
    <!-- TODO: add other Gazebo Joint properties (http://sdformat.org/spec?elem=joint) -->
  </gazebo>
  <link name="qbshin_middle_knuckle_link">
    <inertial>
      <mass value="0.0095"/>
      <origin rpy="0 0 0" xyz="4.2753603e-04  0.0 -1.4321738e-03"/>
      <inertia ixx="6.4337303e-07" ixy="0.0" ixz="-3.9373913e-08" iyy="1.1253771e-06" iyz="0.0" izz="7.2336948e-07"/>
    </inertial>
    <visual>
      <origin rpy="0 0 0" xyz="0 0 0"/>
      <geometry>
        <mesh filename="package://meshes/sh_ph_prx_inj_d9_m_urdf.stl" scale="0.001 0.001 0.001"/>
      </geometry>
      <material name="qbshin/knuckle"/>
    </visual>
    <collision>
      <origin rpy="0 0 0" xyz="0 0 0"/>
      <geometry>
        <mesh filename="package://meshes/sh_ph_prx_inj_d9_m_urdf.stl" scale="0.001 0.001 0.001"/>
      </geometry>
    </collision>
  </link>
  <gazebo reference="qbshin_middle_knuckle_link">
    <self_collide>1</self_collide>
    <!-- TODO: add other Gazebo Link properties (http://sdformat.org/spec?elem=link) -->
    <!--      <collision>-->
    <!--        <surface>-->
    <!--          <contact>-->
    <!--            <ode>-->
    <!--              <kp>1.0</kp>-->
    <!--              <kd>0.01</kd>-->
    <!--              <max_vel>0.0</max_vel>-->
    <!--              <min_depth>0.001</min_depth>-->
    <!--            </ode>-->
    <!--          </contact>-->
    <!--          <friction>-->
    <!--            <ode>-->
    <!--              <mu>0.9</mu>-->
    <!--              <mu2>0.9</mu2>-->
    <!--            </ode>-->
    <!--          </friction>-->
    <!--        </surface>-->
    <!--      </collision>-->
  </gazebo>
  <joint name="qbshin_middle_proximal_joint" type="revolute">
    <origin rpy="0.0 0.0 0.0" xyz="0.01 0 0"/>
    <parent link="qbshin_middle_knuckle_link"/>
    <child link="qbshin_middle_proximal_virtual_link"/>
    <axis xyz="0 0 -1"/>
    <dynamics damping="0.0" friction="0.0"/>
    <limit effort="100" lower="0.0" upper="0.785" velocity="100"/>
    <mimic joint="qbshin_synergy_joint" multiplier="0.785"/>
  </joint>
  <transmission name="qbshin_transmission">
    <type>transmission_interface/qbMoveTransmission</type>
    <joint name="qbshin_middle_proximal_joint">
      <hardwareInterface>hardware_interface/EffortJointInterface</hardwareInterface>
    </joint>
    <actuator name="qbshin_middle_proximal_joint">
      <hardwareInterface>hardware_interface/EffortJointInterface</hardwareInterface>
    </actuator>
  </transmission>
  <gazebo reference="qbshin_middle_proximal_joint">
    <!-- TODO: add other Gazebo Joint properties (http://sdformat.org/spec?elem=joint) -->
  </gazebo>
  <link name="qbshin_middle_proximal_virtual_link">
    <inertial>
      <origin rpy="0 0 0" xyz="0 0 0"/>
      <mass value="1e-4"/>
      <inertia ixx="1e-9" ixy="0.0" ixz="0.0" iyy="1e-9" iyz="0.0" izz="1e-9"/>
    </inertial>
  </link>
  <joint name="qbshin_middle_proximal_virtual_joint" type="revolute">
    <origin rpy="0 0 0" xyz="0.013 0 0"/>
    <parent link="qbshin_middle_proximal_virtual_link"/>
    <child link="qbshin_middle_proximal_link"/>
    <axis xyz="0 0 -1"/>
    <dynamics damping="0.0" friction="0.0"/>
    <limit effort="100" lower="0.0" upper="0.785" velocity="100"/>
    <mimic joint="qbshin_middle_proximal_joint" multiplier="1.0"/>
  </joint>
  <transmission name="qbshin_transmission">
    <type>transmission_interface/qbMoveTransmission</type>
    <joint name="qbshin_middle_proximal_virtual_joint">
      <hardwareInterface>hardware_interface/EffortJointInterface</hardwareInterface>
    </joint>
    <actuator name="qbshin_middle_proximal_virtual_joint">
      <hardwareInterface>hardware_interface/EffortJointInterface</hardwareInterface>
    </actuator>
  </transmission>
  <gazebo reference="qbshin_middle_proximal_virtual_joint">
    <!-- TODO: add other Gazebo Joint properties (http://sdformat.org/spec?elem=joint) -->
  </gazebo>
  <link name="qbshin_middle_proximal_link">
    <inertial>
      <mass value="0.0082"/>
      <origin rpy="0 0 0" xyz="8.7707437e-03 -1.7863138e-03 0.0"/>
      <inertia ixx="2.2722068e-07" ixy="1.1586053e-08" ixz="0.0" iyy="5.5947233e-07" iyz="0.0" izz="5.9562195e-07"/>
    </inertial>
    <visual>
      <origin rpy="0 0 0" xyz="0 0 0"/>
      <geometry>
        <mesh filename="package://meshes/mc_h_pad_30_urdf.stl" scale="0.001 0.001 0.001"/>
      </geometry>
      <material name="qbshin/proximal"/>
    </visual>
    <collision>
      <origin rpy="0 0 0" xyz="0 0 0"/>
      <geometry>
        <mesh filename="package://meshes/mc_h_pad_30_urdf.stl" scale="0.001 0.001 0.001"/>
      </geometry>
    </collision>
  </link>
  <gazebo reference="qbshin_middle_proximal_link">
    <self_collide>1</self_collide>
    <!-- TODO: add other Gazebo Link properties (http://sdformat.org/spec?elem=link) -->
    <!--      <collision>-->
    <!--        <surface>-->
    <!--          <contact>-->
    <!--            <ode>-->
    <!--              <kp>1.0</kp>-->
    <!--              <kd>0.01</kd>-->
    <!--              <max_vel>0.0</max_vel>-->
    <!--              <min_depth>0.001</min_depth>-->
    <!--            </ode>-->
    <!--          </contact>-->
    <!--          <friction>-->
    <!--            <ode>-->
    <!--              <mu>0.9</mu>-->
    <!--              <mu2>0.9</mu2>-->
    <!--            </ode>-->
    <!--          </friction>-->
    <!--        </surface>-->
    <!--      </collision>-->
  </gazebo>
  <joint name="qbshin_middle_middle_joint" type="revolute">
    <origin rpy="0 0 0" xyz="0.017 0 0"/>
    <parent link="qbshin_middle_proximal_link"/>
    <child link="qbshin_middle_middle_virtual_link"/>
    <axis xyz="0 0 -1"/>
    <dynamics damping="0.0" friction="0.0"/>
    <limit effort="100" lower="0.0" upper="0.785" velocity="100"/>
    <mimic joint="qbshin_synergy_joint" multiplier="0.785"/>
  </joint>
  <transmission name="qbshin_transmission">
    <type>transmission_interface/qbMoveTransmission</type>
    <joint name="qbshin_middle_middle_joint">
      <hardwareInterface>hardware_interface/EffortJointInterface</hardwareInterface>
    </joint>
    <actuator name="qbshin_middle_middle_joint">
      <hardwareInterface>hardware_interface/EffortJointInterface</hardwareInterface>
    </actuator>
  </transmission>
  <gazebo reference="qbshin_middle_middle_joint">
    <!-- TODO: add other Gazebo Joint properties (http://sdformat.org/spec?elem=joint) -->
  </gazebo>
  <link name="qbshin_middle_middle_virtual_link">
    <inertial>
      <origin rpy="0 0 0" xyz="0 0 0"/>
      <mass value="1e-4"/>
      <inertia ixx="1e-9" ixy="0.0" ixz="0.0" iyy="1e-9" iyz="0.0" izz="1e-9"/>
    </inertial>
  </link>
  <joint name="qbshin_middle_middle_virtual_joint" type="revolute">
    <origin rpy="0 0 0" xyz="0.013 0 0"/>
    <parent link="qbshin_middle_middle_virtual_link"/>
    <child link="qbshin_middle_middle_link"/>
    <axis xyz="0 0 -1"/>
    <dynamics damping="0.0" friction="0.0"/>
    <limit effort="100" lower="0.0" upper="0.785" velocity="100"/>
    <mimic joint="qbshin_middle_middle_joint" multiplier="1.0"/>
  </joint>
  <transmission name="qbshin_transmission">
    <type>transmission_interface/qbMoveTransmission</type>
    <joint name="qbshin_middle_middle_virtual_joint">
      <hardwareInterface>hardware_interface/EffortJointInterface</hardwareInterface>
    </joint>
    <actuator name="qbshin_middle_middle_virtual_joint">
      <hardwareInterface>hardware_interface/EffortJointInterface</hardwareInterface>
    </actuator>
  </transmission>
  <gazebo reference="qbshin_middle_middle_virtual_joint">
    <!-- TODO: add other Gazebo Joint properties (http://sdformat.org/spec?elem=joint) -->
  </gazebo>
  <link name="qbshin_middle_middle_link">
    <inertial>
      <mass value="0.0082"/>
      <origin rpy="0 0 0" xyz="8.7707437e-03 -1.7863138e-03 0.0"/>
      <inertia ixx="2.2722068e-07" ixy="1.1586053e-08" ixz="0.0" iyy="5.5947233e-07" iyz="0.0" izz="5.9562195e-07"/>
    </inertial>
    <visual>
      <origin rpy="0 0 0" xyz="0 0 0"/>
      <geometry>
        <mesh filename="package://meshes/mc_h_pad_30_urdf.stl" scale="0.001 0.001 0.001"/>
      </geometry>
      <material name="qbshin/middle"/>
    </visual>
    <collision>
      <origin rpy="0 0 0" xyz="0 0 0"/>
      <geometry>
        <mesh filename="package://meshes/mc_h_pad_30_urdf.stl" scale="0.001 0.001 0.001"/>
      </geometry>
    </collision>
  </link>
  <gazebo reference="qbshin_middle_middle_link">
    <self_collide>1</self_collide>
    <!-- TODO: add other Gazebo Link properties (http://sdformat.org/spec?elem=link) -->
    <!--      <collision>-->
    <!--        <surface>-->
    <!--          <contact>-->
    <!--            <ode>-->
    <!--              <kp>1.0</kp>-->
    <!--              <kd>0.01</kd>-->
    <!--              <max_vel>0.0</max_vel>-->
    <!--              <min_depth>0.001</min_depth>-->
    <!--            </ode>-->
    <!--          </contact>-->
    <!--          <friction>-->
    <!--            <ode>-->
    <!--              <mu>0.9</mu>-->
    <!--              <mu2>0.9</mu2>-->
    <!--            </ode>-->
    <!--          </friction>-->
    <!--        </surface>-->
    <!--      </collision>-->
  </gazebo>
  <joint name="qbshin_middle_distal_joint" type="revolute">
    <origin rpy="0.0 0.0 0.0" xyz="0.014 0.002 0"/>
    <parent link="qbshin_middle_middle_link"/>
    <child link="qbshin_middle_distal_virtual_link"/>
    <axis xyz="0 0 -1"/>
    <dynamics damping="0.0" friction="0.0"/>
    <limit effort="100" lower="0.0" upper="0.785" velocity="100"/>
    <mimic joint="qbshin_synergy_joint" multiplier="0.785"/>
  </joint>
  <transmission name="qbshin_transmission">
    <type>transmission_interface/qbMoveTransmission</type>
    <joint name="qbshin_middle_distal_joint">
      <hardwareInterface>hardware_interface/EffortJointInterface</hardwareInterface>
    </joint>
    <actuator name="qbshin_middle_distal_joint">
      <hardwareInterface>hardware_interface/EffortJointInterface</hardwareInterface>
    </actuator>
  </transmission>
  <gazebo reference="qbshin_middle_distal_joint">
    <!-- TODO: add other Gazebo Joint properties (http://sdformat.org/spec?elem=joint) -->
  </gazebo>
  <link name="qbshin_middle_distal_virtual_link">
    <inertial>
      <origin rpy="0 0 0" xyz="0 0 0"/>
      <mass value="1e-4"/>
      <inertia ixx="1e-9" ixy="0.0" ixz="0.0" iyy="1e-9" iyz="0.0" izz="1e-9"/>
    </inertial>
  </link>
  <joint name="qbshin_middle_distal_virtual_joint" type="revolute">
    <origin rpy="0 0 0" xyz="0.013 0 0"/>
    <parent link="qbshin_middle_distal_virtual_link"/>
    <child link="qbshin_middle_distal_link"/>
    <axis xyz="0 0 -1"/>
    <dynamics damping="0.0" friction="0.0"/>
    <limit effort="100" lower="0.0" upper="0.785" velocity="100"/>
    <mimic joint="qbshin_middle_distal_joint" multiplier="1.0"/>
  </joint>
  <transmission name="qbshin_transmission">
    <type>transmission_interface/qbMoveTransmission</type>
    <joint name="qbshin_middle_distal_virtual_joint">
      <hardwareInterface>hardware_interface/EffortJointInterface</hardwareInterface>
    </joint>
    <actuator name="qbshin_middle_distal_virtual_joint">
      <hardwareInterface>hardware_interface/EffortJointInterface</hardwareInterface>
    </actuator>
  </transmission>
  <gazebo reference="qbshin_middle_distal_virtual_joint">
    <!-- TODO: add other Gazebo Joint properties (http://sdformat.org/spec?elem=joint) -->
  </gazebo>
  <link name="qbshin_middle_distal_link">
    <inertial>
      <mass value="0.009"/>
      <origin rpy="0 0 0" xyz="8.8025467e-03 -1.7219289e-03 0.0"/>
      <inertia ixx="2.6586142e-07" ixy="1.2416847e-08" ixz="0.0" iyy="5.9935767e-07" iyz="0.0" izz="6.6781963e-07"/>
    </inertial>
    <visual>
      <origin rpy="0 0 0" xyz="0 0 0"/>
      <geometry>
        <mesh filename="package://meshes/mc_h_pad_dist_urdf.stl" scale="0.001 0.001 0.001"/>
      </geometry>
      <material name="qbshin/distal"/>
    </visual>
    <collision>
      <origin rpy="0 0 0" xyz="0 0 0"/>
      <geometry>
        <mesh filename="package://meshes/mc_h_pad_dist_urdf.stl" scale="0.001 0.001 0.001"/>
      </geometry>
    </collision>
  </link>
  <gazebo reference="qbshin_middle_distal_link">
    <self_collide>1</self_collide>
    <!-- TODO: add other Gazebo Link properties (http://sdformat.org/spec?elem=link) -->
    <!--      <collision>-->
    <!--        <surface>-->
    <!--          <contact>-->
    <!--            <ode>-->
    <!--              <kp>1.0</kp>-->
    <!--              <kd>0.01</kd>-->
    <!--              <max_vel>0.0</max_vel>-->
    <!--              <min_depth>0.001</min_depth>-->
    <!--            </ode>-->
    <!--          </contact>-->
    <!--          <friction>-->
    <!--            <ode>-->
    <!--              <mu>0.9</mu>-->
    <!--              <mu2>0.9</mu2>-->
    <!--            </ode>-->
    <!--          </friction>-->
    <!--        </surface>-->
    <!--      </collision>-->
  </gazebo>
  <joint name="qbshin_ring_knuckle_joint" type="revolute">
    <origin rpy="1.57 0 1.57" xyz="0.022 0.062 -0.022"/>
    <parent link="qbshin_palm_link"/>
    <child link="qbshin_ring_knuckle_link"/>
    <axis xyz="0 0 -1"/>
    <dynamics damping="0.0" friction="0.0"/>
    <limit effort="100" lower="-0.524" upper="0.524" velocity="100"/>
    <mimic joint="qbshin_synergy_joint" multiplier="0.2"/>
  </joint>
  <transmission name="qbshin_transmission">
    <type>transmission_interface/qbMoveTransmission</type>
    <joint name="qbshin_ring_knuckle_joint">
      <hardwareInterface>hardware_interface/EffortJointInterface</hardwareInterface>
    </joint>
    <actuator name="qbshin_ring_knuckle_joint">
      <hardwareInterface>hardware_interface/EffortJointInterface</hardwareInterface>
    </actuator>
  </transmission>
  <gazebo reference="qbshin_ring_knuckle_joint">
    <!-- TODO: add other Gazebo Joint properties (http://sdformat.org/spec?elem=joint) -->
  </gazebo>
  <link name="qbshin_ring_knuckle_link">
    <inertial>
      <mass value="0.0095"/>
      <origin rpy="0 0 0" xyz="4.2753603e-04  0.0 -1.4321738e-03"/>
      <inertia ixx="6.4337303e-07" ixy="0.0" ixz="-3.9373913e-08" iyy="1.1253771e-06" iyz="0.0" izz="7.2336948e-07"/>
    </inertial>
    <visual>
      <origin rpy="0 0 0" xyz="0 0 0"/>
      <geometry>
        <mesh filename="package://meshes/sh_ph_prx_inj_d9_r_urdf.stl" scale="0.001 0.001 0.001"/>
      </geometry>
      <material name="qbshin/knuckle"/>
    </visual>
    <collision>
      <origin rpy="0 0 0" xyz="0 0 0"/>
      <geometry>
        <mesh filename="package://meshes/sh_ph_prx_inj_d9_r_urdf.stl" scale="0.001 0.001 0.001"/>
      </geometry>
    </collision>
  </link>
  <gazebo reference="qbshin_ring_knuckle_link">
    <self_collide>1</self_collide>
    <!-- TODO: add other Gazebo Link properties (http://sdformat.org/spec?elem=link) -->
    <!--      <collision>-->
    <!--        <surface>-->
    <!--          <contact>-->
    <!--            <ode>-->
    <!--              <kp>1.0</kp>-->
    <!--              <kd>0.01</kd>-->
    <!--              <max_vel>0.0</max_vel>-->
    <!--              <min_depth>0.001</min_depth>-->
    <!--            </ode>-->
    <!--          </contact>-->
    <!--          <friction>-->
    <!--            <ode>-->
    <!--              <mu>0.9</mu>-->
    <!--              <mu2>0.9</mu2>-->
    <!--            </ode>-->
    <!--          </friction>-->
    <!--        </surface>-->
    <!--      </collision>-->
  </gazebo>
  <joint name="qbshin_ring_proximal_joint" type="revolute">
    <origin rpy="0.0 0.0 0.0" xyz="0.01 0 -0.002"/>
    <parent link="qbshin_ring_knuckle_link"/>
    <child link="qbshin_ring_proximal_virtual_link"/>
    <axis xyz="0 0 -1"/>
    <dynamics damping="0.0" friction="0.0"/>
    <limit effort="100" lower="0.0" upper="0.785" velocity="100"/>
    <mimic joint="qbshin_synergy_joint" multiplier="0.785"/>
  </joint>
  <transmission name="qbshin_transmission">
    <type>transmission_interface/qbMoveTransmission</type>
    <joint name="qbshin_ring_proximal_joint">
      <hardwareInterface>hardware_interface/EffortJointInterface</hardwareInterface>
    </joint>
    <actuator name="qbshin_ring_proximal_joint">
      <hardwareInterface>hardware_interface/EffortJointInterface</hardwareInterface>
    </actuator>
  </transmission>
  <gazebo reference="qbshin_ring_proximal_joint">
    <!-- TODO: add other Gazebo Joint properties (http://sdformat.org/spec?elem=joint) -->
  </gazebo>
  <link name="qbshin_ring_proximal_virtual_link">
    <inertial>
      <origin rpy="0 0 0" xyz="0 0 0"/>
      <mass value="1e-4"/>
      <inertia ixx="1e-9" ixy="0.0" ixz="0.0" iyy="1e-9" iyz="0.0" izz="1e-9"/>
    </inertial>
  </link>
  <joint name="qbshin_ring_proximal_virtual_joint" type="revolute">
    <origin rpy="0 0 0" xyz="0.013 0 0"/>
    <parent link="qbshin_ring_proximal_virtual_link"/>
    <child link="qbshin_ring_proximal_link"/>
    <axis xyz="0 0 -1"/>
    <dynamics damping="0.0" friction="0.0"/>
    <limit effort="100" lower="0.0" upper="0.785" velocity="100"/>
    <mimic joint="qbshin_ring_proximal_joint" multiplier="1.0"/>
  </joint>
  <transmission name="qbshin_transmission">
    <type>transmission_interface/qbMoveTransmission</type>
    <joint name="qbshin_ring_proximal_virtual_joint">
      <hardwareInterface>hardware_interface/EffortJointInterface</hardwareInterface>
    </joint>
    <actuator name="qbshin_ring_proximal_virtual_joint">
      <hardwareInterface>hardware_interface/EffortJointInterface</hardwareInterface>
    </actuator>
  </transmission>
  <gazebo reference="qbshin_ring_proximal_virtual_joint">
    <!-- TODO: add other Gazebo Joint properties (http://sdformat.org/spec?elem=joint) -->
  </gazebo>
  <link name="qbshin_ring_proximal_link">
    <inertial>
      <mass value="0.0082"/>
      <origin rpy="0 0 0" xyz="8.7707437e-03 -1.7863138e-03 0.0"/>
      <inertia ixx="2.2722068e-07" ixy="1.1586053e-08" ixz="0.0" iyy="5.5947233e-07" iyz="0.0" izz="5.9562195e-07"/>
    </inertial>
    <visual>
      <origin rpy="0 0 0" xyz="0 0 0"/>
      <geometry>
        <mesh filename="package://meshes/mc_h_pad_30_urdf.stl" scale="0.001 0.001 0.001"/>
      </geometry>
      <material name="qbshin/proximal"/>
    </visual>
    <collision>
      <origin rpy="0 0 0" xyz="0 0 0"/>
      <geometry>
        <mesh filename="package://meshes/mc_h_pad_30_urdf.stl" scale="0.001 0.001 0.001"/>
      </geometry>
    </collision>
  </link>
  <gazebo reference="qbshin_ring_proximal_link">
    <self_collide>1</self_collide>
    <!-- TODO: add other Gazebo Link properties (http://sdformat.org/spec?elem=link) -->
    <!--      <collision>-->
    <!--        <surface>-->
    <!--          <contact>-->
    <!--            <ode>-->
    <!--              <kp>1.0</kp>-->
    <!--              <kd>0.01</kd>-->
    <!--              <max_vel>0.0</max_vel>-->
    <!--              <min_depth>0.001</min_depth>-->
    <!--            </ode>-->
    <!--          </contact>-->
    <!--          <friction>-->
    <!--            <ode>-->
    <!--              <mu>0.9</mu>-->
    <!--              <mu2>0.9</mu2>-->
    <!--            </ode>-->
    <!--          </friction>-->
    <!--        </surface>-->
    <!--      </collision>-->
  </gazebo>
  <joint name="qbshin_ring_middle_joint" type="revolute">
    <origin rpy="0 0 0" xyz="0.017 0 0"/>
    <parent link="qbshin_ring_proximal_link"/>
    <child link="qbshin_ring_middle_virtual_link"/>
    <axis xyz="0 0 -1"/>
    <dynamics damping="0.0" friction="0.0"/>
    <limit effort="100" lower="0.0" upper="0.785" velocity="100"/>
    <mimic joint="qbshin_synergy_joint" multiplier="0.785"/>
  </joint>
  <transmission name="qbshin_transmission">
    <type>transmission_interface/qbMoveTransmission</type>
    <joint name="qbshin_ring_middle_joint">
      <hardwareInterface>hardware_interface/EffortJointInterface</hardwareInterface>
    </joint>
    <actuator name="qbshin_ring_middle_joint">
      <hardwareInterface>hardware_interface/EffortJointInterface</hardwareInterface>
    </actuator>
  </transmission>
  <gazebo reference="qbshin_ring_middle_joint">
    <!-- TODO: add other Gazebo Joint properties (http://sdformat.org/spec?elem=joint) -->
  </gazebo>
  <link name="qbshin_ring_middle_virtual_link">
    <inertial>
      <origin rpy="0 0 0" xyz="0 0 0"/>
      <mass value="1e-4"/>
      <inertia ixx="1e-9" ixy="0.0" ixz="0.0" iyy="1e-9" iyz="0.0" izz="1e-9"/>
    </inertial>
  </link>
  <joint name="qbshin_ring_middle_virtual_joint" type="revolute">
    <origin rpy="0 0 0" xyz="0.013 0 0"/>
    <parent link="qbshin_ring_middle_virtual_link"/>
    <child link="qbshin_ring_middle_link"/>
    <axis xyz="0 0 -1"/>
    <dynamics damping="0.0" friction="0.0"/>
    <limit effort="100" lower="0.0" upper="0.785" velocity="100"/>
    <mimic joint="qbshin_ring_middle_joint" multiplier="1.0"/>
  </joint>
  <transmission name="qbshin_transmission">
    <type>transmission_interface/qbMoveTransmission</type>
    <joint name="qbshin_ring_middle_virtual_joint">
      <hardwareInterface>hardware_interface/EffortJointInterface</hardwareInterface>
    </joint>
    <actuator name="qbshin_ring_middle_virtual_joint">
      <hardwareInterface>hardware_interface/EffortJointInterface</hardwareInterface>
    </actuator>
  </transmission>
  <gazebo reference="qbshin_ring_middle_virtual_joint">
    <!-- TODO: add other Gazebo Joint properties (http://sdformat.org/spec?elem=joint) -->
  </gazebo>
  <link name="qbshin_ring_middle_link">
    <inertial>
      <mass value="0.0082"/>
      <origin rpy="0 0 0" xyz="8.7707437e-03 -1.7863138e-03 0.0"/>
      <inertia ixx="2.2722068e-07" ixy="1.1586053e-08" ixz="0.0" iyy="5.5947233e-07" iyz="0.0" izz="5.9562195e-07"/>
    </inertial>
    <visual>
      <origin rpy="0 0 0" xyz="0 0 0"/>
      <geometry>
        <mesh filename="package://meshes/mc_h_pad_25_urdf.stl" scale="0.001 0.001 0.001"/>
      </geometry>
      <material name="qbshin/middle"/>
    </visual>
    <collision>
      <origin rpy="0 0 0" xyz="0 0 0"/>
      <geometry>
        <mesh filename="package://meshes/mc_h_pad_25_urdf.stl" scale="0.001 0.001 0.001"/>
      </geometry>
    </collision>
  </link>
  <gazebo reference="qbshin_ring_middle_link">
    <self_collide>1</self_collide>
    <!-- TODO: add other Gazebo Link properties (http://sdformat.org/spec?elem=link) -->
    <!--      <collision>-->
    <!--        <surface>-->
    <!--          <contact>-->
    <!--            <ode>-->
    <!--              <kp>1.0</kp>-->
    <!--              <kd>0.01</kd>-->
    <!--              <max_vel>0.0</max_vel>-->
    <!--              <min_depth>0.001</min_depth>-->
    <!--            </ode>-->
    <!--          </contact>-->
    <!--          <friction>-->
    <!--            <ode>-->
    <!--              <mu>0.9</mu>-->
    <!--              <mu2>0.9</mu2>-->
    <!--            </ode>-->
    <!--          </friction>-->
    <!--        </surface>-->
    <!--      </collision>-->
  </gazebo>
  <joint name="qbshin_ring_distal_joint" type="revolute">
    <origin rpy="0.0 0.0 0.0" xyz="0.012 0.002 0"/>
    <parent link="qbshin_ring_middle_link"/>
    <child link="qbshin_ring_distal_virtual_link"/>
    <axis xyz="0 0 -1"/>
    <dynamics damping="0.0" friction="0.0"/>
    <limit effort="100" lower="0.0" upper="0.785" velocity="100"/>
    <mimic joint="qbshin_synergy_joint" multiplier="0.785"/>
  </joint>
  <transmission name="qbshin_transmission">
    <type>transmission_interface/qbMoveTransmission</type>
    <joint name="qbshin_ring_distal_joint">
      <hardwareInterface>hardware_interface/EffortJointInterface</hardwareInterface>
    </joint>
    <actuator name="qbshin_ring_distal_joint">
      <hardwareInterface>hardware_interface/EffortJointInterface</hardwareInterface>
    </actuator>
  </transmission>
  <gazebo reference="qbshin_ring_distal_joint">
    <!-- TODO: add other Gazebo Joint properties (http://sdformat.org/spec?elem=joint) -->
  </gazebo>
  <link name="qbshin_ring_distal_virtual_link">
    <inertial>
      <origin rpy="0 0 0" xyz="0 0 0"/>
      <mass value="1e-4"/>
      <inertia ixx="1e-9" ixy="0.0" ixz="0.0" iyy="1e-9" iyz="0.0" izz="1e-9"/>
    </inertial>
  </link>
  <joint name="qbshin_ring_distal_virtual_joint" type="revolute">
    <origin rpy="0 0 0" xyz="0.013 0 0"/>
    <parent link="qbshin_ring_distal_virtual_link"/>
    <child link="qbshin_ring_distal_link"/>
    <axis xyz="0 0 -1"/>
    <dynamics damping="0.0" friction="0.0"/>
    <limit effort="100" lower="0.0" upper="0.785" velocity="100"/>
    <mimic joint="qbshin_ring_distal_joint" multiplier="1.0"/>
  </joint>
  <transmission name="qbshin_transmission">
    <type>transmission_interface/qbMoveTransmission</type>
    <joint name="qbshin_ring_distal_virtual_joint">
      <hardwareInterface>hardware_interface/EffortJointInterface</hardwareInterface>
    </joint>
    <actuator name="qbshin_ring_distal_virtual_joint">
      <hardwareInterface>hardware_interface/EffortJointInterface</hardwareInterface>
    </actuator>
  </transmission>
  <gazebo reference="qbshin_ring_distal_virtual_joint">
    <!-- TODO: add other Gazebo Joint properties (http://sdformat.org/spec?elem=joint) -->
  </gazebo>
  <link name="qbshin_ring_distal_link">
    <inertial>
      <mass value="0.009"/>
      <origin rpy="0 0 0" xyz="8.8025467e-03 -1.7219289e-03 0.0"/>
      <inertia ixx="2.6586142e-07" ixy="1.2416847e-08" ixz="0.0" iyy="5.9935767e-07" iyz="0.0" izz="6.6781963e-07"/>
    </inertial>
    <visual>
      <origin rpy="0 0 0" xyz="0 0 0"/>
      <geometry>
        <mesh filename="package://meshes/mc_h_pad_dist_urdf.stl" scale="0.001 0.001 0.001"/>
      </geometry>
      <material name="qbshin/distal"/>
    </visual>
    <collision>
      <origin rpy="0 0 0" xyz="0 0 0"/>
      <geometry>
        <mesh filename="package://meshes/mc_h_pad_dist_urdf.stl" scale="0.001 0.001 0.001"/>
      </geometry>
    </collision>
  </link>
  <gazebo reference="qbshin_ring_distal_link">
    <self_collide>1</self_collide>
    <!-- TODO: add other Gazebo Link properties (http://sdformat.org/spec?elem=link) -->
    <!--      <collision>-->
    <!--        <surface>-->
    <!--          <contact>-->
    <!--            <ode>-->
    <!--              <kp>1.0</kp>-->
    <!--              <kd>0.01</kd>-->
    <!--              <max_vel>0.0</max_vel>-->
    <!--              <min_depth>0.001</min_depth>-->
    <!--            </ode>-->
    <!--          </contact>-->
    <!--          <friction>-->
    <!--            <ode>-->
    <!--              <mu>0.9</mu>-->
    <!--              <mu2>0.9</mu2>-->
    <!--            </ode>-->
    <!--          </friction>-->
    <!--        </surface>-->
    <!--      </collision>-->
  </gazebo>
  <joint name="qbshin_little_knuckle_joint" type="revolute">
    <origin rpy="1.57 0 1.57" xyz="0.049 0.044 -0.022"/>
    <parent link="qbshin_palm_link"/>
    <child link="qbshin_little_knuckle_link"/>
    <axis xyz="0 0 -1"/>
    <dynamics damping="0.0" friction="0.0"/>
    <limit effort="100" lower="-0.524" upper="0.524" velocity="100"/>
    <mimic joint="qbshin_synergy_joint" multiplier="0.4"/>
  </joint>
  <transmission name="qbshin_transmission">
    <type>transmission_interface/qbMoveTransmission</type>
    <joint name="qbshin_little_knuckle_joint">
      <hardwareInterface>hardware_interface/EffortJointInterface</hardwareInterface>
    </joint>
    <actuator name="qbshin_little_knuckle_joint">
      <hardwareInterface>hardware_interface/EffortJointInterface</hardwareInterface>
    </actuator>
  </transmission>
  <gazebo reference="qbshin_little_knuckle_joint">
    <!-- TODO: add other Gazebo Joint properties (http://sdformat.org/spec?elem=joint) -->
  </gazebo>
  <link name="qbshin_little_knuckle_link">
    <inertial>
      <mass value="0.0095"/>
      <origin rpy="0 0 0" xyz="4.2753603e-04  0.0 -1.4321738e-03"/>
      <inertia ixx="6.4337303e-07" ixy="0.0" ixz="-3.9373913e-08" iyy="1.1253771e-06" iyz="0.0" izz="7.2336948e-07"/>
    </inertial>
    <visual>
      <origin rpy="0 0 0" xyz="0 0 0"/>
      <geometry>
        <mesh filename="package://meshes/sh_ph_prx_inj_d9_r_urdf.stl" scale="0.001 0.001 0.001"/>
      </geometry>
      <material name="qbshin/knuckle"/>
    </visual>
    <collision>
      <origin rpy="0 0 0" xyz="0 0 0"/>
      <geometry>
        <mesh filename="package://meshes/sh_ph_prx_inj_d9_r_urdf.stl" scale="0.001 0.001 0.001"/>
      </geometry>
    </collision>
  </link>
  <gazebo reference="qbshin_little_knuckle_link">
    <self_collide>1</self_collide>
    <!-- TODO: add other Gazebo Link properties (http://sdformat.org/spec?elem=link) -->
    <!--      <collision>-->
    <!--        <surface>-->
    <!--          <contact>-->
    <!--            <ode>-->
    <!--              <kp>1.0</kp>-->
    <!--              <kd>0.01</kd>-->
    <!--              <max_vel>0.0</max_vel>-->
    <!--              <min_depth>0.001</min_depth>-->
    <!--            </ode>-->
    <!--          </contact>-->
    <!--          <friction>-->
    <!--            <ode>-->
    <!--              <mu>0.9</mu>-->
    <!--              <mu2>0.9</mu2>-->
    <!--            </ode>-->
    <!--          </friction>-->
    <!--        </surface>-->
    <!--      </collision>-->
  </gazebo>
  <joint name="qbshin_little_proximal_joint" type="revolute">
    <origin rpy="0.0 0.0 0.0" xyz="0.01 0 -0.002"/>
    <parent link="qbshin_little_knuckle_link"/>
    <child link="qbshin_little_proximal_virtual_link"/>
    <axis xyz="0 0 -1"/>
    <dynamics damping="0.0" friction="0.0"/>
    <limit effort="100" lower="0.0" upper="0.785" velocity="100"/>
    <mimic joint="qbshin_synergy_joint" multiplier="0.785"/>
  </joint>
  <transmission name="qbshin_transmission">
    <type>transmission_interface/qbMoveTransmission</type>
    <joint name="qbshin_little_proximal_joint">
      <hardwareInterface>hardware_interface/EffortJointInterface</hardwareInterface>
    </joint>
    <actuator name="qbshin_little_proximal_joint">
      <hardwareInterface>hardware_interface/EffortJointInterface</hardwareInterface>
    </actuator>
  </transmission>
  <gazebo reference="qbshin_little_proximal_joint">
    <!-- TODO: add other Gazebo Joint properties (http://sdformat.org/spec?elem=joint) -->
  </gazebo>
  <link name="qbshin_little_proximal_virtual_link">
    <inertial>
      <origin rpy="0 0 0" xyz="0 0 0"/>
      <mass value="1e-4"/>
      <inertia ixx="1e-9" ixy="0.0" ixz="0.0" iyy="1e-9" iyz="0.0" izz="1e-9"/>
    </inertial>
  </link>
  <joint name="qbshin_little_proximal_virtual_joint" type="revolute">
    <origin rpy="0 0 0" xyz="0.013 0 0"/>
    <parent link="qbshin_little_proximal_virtual_link"/>
    <child link="qbshin_little_proximal_link"/>
    <axis xyz="0 0 -1"/>
    <dynamics damping="0.0" friction="0.0"/>
    <limit effort="100" lower="0.0" upper="0.785" velocity="100"/>
    <mimic joint="qbshin_little_proximal_joint" multiplier="1.0"/>
  </joint>
  <transmission name="qbshin_transmission">
    <type>transmission_interface/qbMoveTransmission</type>
    <joint name="qbshin_little_proximal_virtual_joint">
      <hardwareInterface>hardware_interface/EffortJointInterface</hardwareInterface>
    </joint>
    <actuator name="qbshin_little_proximal_virtual_joint">
      <hardwareInterface>hardware_interface/EffortJointInterface</hardwareInterface>
    </actuator>
  </transmission>
  <gazebo reference="qbshin_little_proximal_virtual_joint">
    <!-- TODO: add other Gazebo Joint properties (http://sdformat.org/spec?elem=joint) -->
  </gazebo>
  <link name="qbshin_little_proximal_link">
    <inertial>
      <mass value="0.0082"/>
      <origin rpy="0 0 0" xyz="8.7707437e-03 -1.7863138e-03 0.0"/>
      <inertia ixx="2.2722068e-07" ixy="1.1586053e-08" ixz="0.0" iyy="5.5947233e-07" iyz="0.0" izz="5.9562195e-07"/>
    </inertial>
    <visual>
      <origin rpy="0 0 0" xyz="0 0 0"/>
      <geometry>
        <mesh filename="package://meshes/mc_h_pad_25_urdf.stl" scale="0.001 0.001 0.001"/>
      </geometry>
      <material name="qbshin/proximal"/>
    </visual>
    <collision>
      <origin rpy="0 0 0" xyz="0 0 0"/>
      <geometry>
        <mesh filename="package://meshes/mc_h_pad_25_urdf.stl" scale="0.001 0.001 0.001"/>
      </geometry>
    </collision>
  </link>
  <gazebo reference="qbshin_little_proximal_link">
    <self_collide>1</self_collide>
    <!-- TODO: add other Gazebo Link properties (http://sdformat.org/spec?elem=link) -->
    <!--      <collision>-->
    <!--        <surface>-->
    <!--          <contact>-->
    <!--            <ode>-->
    <!--              <kp>1.0</kp>-->
    <!--              <kd>0.01</kd>-->
    <!--              <max_vel>0.0</max_vel>-->
    <!--              <min_depth>0.001</min_depth>-->
    <!--            </ode>-->
    <!--          </contact>-->
    <!--          <friction>-->
    <!--            <ode>-->
    <!--              <mu>0.9</mu>-->
    <!--              <mu2>0.9</mu2>-->
    <!--            </ode>-->
    <!--          </friction>-->
    <!--        </surface>-->
    <!--      </collision>-->
  </gazebo>
  <joint name="qbshin_little_middle_joint" type="revolute">
    <origin rpy="0.0 0.0 0.0" xyz="0.01 0 0"/>
    <parent link="qbshin_little_proximal_link"/>
    <child link="qbshin_little_middle_virtual_link"/>
    <axis xyz="0 0 -1"/>
    <dynamics damping="0.0" friction="0.0"/>
    <limit effort="100" lower="0.0" upper="0.785" velocity="100"/>
    <mimic joint="qbshin_synergy_joint" multiplier="0.785"/>
  </joint>
  <transmission name="qbshin_transmission">
    <type>transmission_interface/qbMoveTransmission</type>
    <joint name="qbshin_little_middle_joint">
      <hardwareInterface>hardware_interface/EffortJointInterface</hardwareInterface>
    </joint>
    <actuator name="qbshin_little_middle_joint">
      <hardwareInterface>hardware_interface/EffortJointInterface</hardwareInterface>
    </actuator>
  </transmission>
  <gazebo reference="qbshin_little_middle_joint">
    <!-- TODO: add other Gazebo Joint properties (http://sdformat.org/spec?elem=joint) -->
  </gazebo>
  <link name="qbshin_little_middle_virtual_link">
    <inertial>
      <origin rpy="0 0 0" xyz="0 0 0"/>
      <mass value="1e-4"/>
      <inertia ixx="1e-9" ixy="0.0" ixz="0.0" iyy="1e-9" iyz="0.0" izz="1e-9"/>
    </inertial>
  </link>
  <joint name="qbshin_little_middle_virtual_joint" type="revolute">
    <origin rpy="0 0 0" xyz="0.013 0 0"/>
    <parent link="qbshin_little_middle_virtual_link"/>
    <child link="qbshin_little_middle_link"/>
    <axis xyz="0 0 -1"/>
    <dynamics damping="0.0" friction="0.0"/>
    <limit effort="100" lower="0.0" upper="0.785" velocity="100"/>
    <mimic joint="qbshin_little_middle_joint" multiplier="1.0"/>
  </joint>
  <transmission name="qbshin_transmission">
    <type>transmission_interface/qbMoveTransmission</type>
    <joint name="qbshin_little_middle_virtual_joint">
      <hardwareInterface>hardware_interface/EffortJointInterface</hardwareInterface>
    </joint>
    <actuator name="qbshin_little_middle_virtual_joint">
      <hardwareInterface>hardware_interface/EffortJointInterface</hardwareInterface>
    </actuator>
  </transmission>
  <gazebo reference="qbshin_little_middle_virtual_joint">
    <!-- TODO: add other Gazebo Joint properties (http://sdformat.org/spec?elem=joint) -->
  </gazebo>
  <link name="qbshin_little_middle_link">
    <inertial>
      <mass value="0.0082"/>
      <origin rpy="0 0 0" xyz="8.7707437e-03 -1.7863138e-03 0.0"/>
      <inertia ixx="2.2722068e-07" ixy="1.1586053e-08" ixz="0.0" iyy="5.5947233e-07" iyz="0.0" izz="5.9562195e-07"/>
    </inertial>
    <visual>
      <origin rpy="0 0 0" xyz="0 0 0"/>
      <geometry>
        <mesh filename="package://meshes/mc_h_pad_21_urdf.stl" scale="0.001 0.001 0.001"/>
      </geometry>
      <material name="qbshin/middle"/>
    </visual>
    <collision>
      <origin rpy="0 0 0" xyz="0 0 0"/>
      <geometry>
        <mesh filename="package://meshes/mc_h_pad_21_urdf.stl" scale="0.001 0.001 0.001"/>
      </geometry>
    </collision>
  </link>
  <gazebo reference="qbshin_little_middle_link">
    <self_collide>1</self_collide>
    <!-- TODO: add other Gazebo Link properties (http://sdformat.org/spec?elem=link) -->
    <!--      <collision>-->
    <!--        <surface>-->
    <!--          <contact>-->
    <!--            <ode>-->
    <!--              <kp>1.0</kp>-->
    <!--              <kd>0.01</kd>-->
    <!--              <max_vel>0.0</max_vel>-->
    <!--              <min_depth>0.001</min_depth>-->
    <!--            </ode>-->
    <!--          </contact>-->
    <!--          <friction>-->
    <!--            <ode>-->
    <!--              <mu>0.9</mu>-->
    <!--              <mu2>0.9</mu2>-->
    <!--            </ode>-->
    <!--          </friction>-->
    <!--        </surface>-->
    <!--      </collision>-->
  </gazebo>
  <joint name="qbshin_little_distal_joint" type="revolute">
    <origin rpy="0.0 0.0 0.0" xyz="0.008 0.002 0"/>
    <parent link="qbshin_little_middle_link"/>
    <child link="qbshin_little_distal_virtual_link"/>
    <axis xyz="0 0 -1"/>
    <dynamics damping="0.0" friction="0.0"/>
    <limit effort="100" lower="0.0" upper="0.785" velocity="100"/>
    <mimic joint="qbshin_synergy_joint" multiplier="0.785"/>
  </joint>
  <transmission name="qbshin_transmission">
    <type>transmission_interface/qbMoveTransmission</type>
    <joint name="qbshin_little_distal_joint">
      <hardwareInterface>hardware_interface/EffortJointInterface</hardwareInterface>
    </joint>
    <actuator name="qbshin_little_distal_joint">
      <hardwareInterface>hardware_interface/EffortJointInterface</hardwareInterface>
    </actuator>
  </transmission>
  <gazebo reference="qbshin_little_distal_joint">
    <!-- TODO: add other Gazebo Joint properties (http://sdformat.org/spec?elem=joint) -->
  </gazebo>
  <link name="qbshin_little_distal_virtual_link">
    <inertial>
      <origin rpy="0 0 0" xyz="0 0 0"/>
      <mass value="1e-4"/>
      <inertia ixx="1e-9" ixy="0.0" ixz="0.0" iyy="1e-9" iyz="0.0" izz="1e-9"/>
    </inertial>
  </link>
  <joint name="qbshin_little_distal_virtual_joint" type="revolute">
    <origin rpy="0 0 0" xyz="0.013 0 0"/>
    <parent link="qbshin_little_distal_virtual_link"/>
    <child link="qbshin_little_distal_link"/>
    <axis xyz="0 0 -1"/>
    <dynamics damping="0.0" friction="0.0"/>
    <limit effort="100" lower="0.0" upper="0.785" velocity="100"/>
    <mimic joint="qbshin_little_distal_joint" multiplier="1.0"/>
  </joint>
  <transmission name="qbshin_transmission">
    <type>transmission_interface/qbMoveTransmission</type>
    <joint name="qbshin_little_distal_virtual_joint">
      <hardwareInterface>hardware_interface/EffortJointInterface</hardwareInterface>
    </joint>
    <actuator name="qbshin_little_distal_virtual_joint">
      <hardwareInterface>hardware_interface/EffortJointInterface</hardwareInterface>
    </actuator>
  </transmission>
  <gazebo reference="qbshin_little_distal_virtual_joint">
    <!-- TODO: add other Gazebo Joint properties (http://sdformat.org/spec?elem=joint) -->
  </gazebo>
  <link name="qbshin_little_distal_link">
    <inertial>
      <mass value="0.009"/>
      <origin rpy="0 0 0" xyz="8.8025467e-03 -1.7219289e-03 0.0"/>
      <inertia ixx="2.6586142e-07" ixy="1.2416847e-08" ixz="0.0" iyy="5.9935767e-07" iyz="0.0" izz="6.6781963e-07"/>
    </inertial>
    <visual>
      <origin rpy="0 0 0" xyz="0 0 0"/>
      <geometry>
        <mesh filename="package://meshes/mc_h_pad_dist_urdf.stl" scale="0.001 0.001 0.001"/>
      </geometry>
      <material name="qbshin/distal"/>
    </visual>
    <collision>
      <origin rpy="0 0 0" xyz="0 0 0"/>
      <geometry>
        <mesh filename="package://meshes/mc_h_pad_dist_urdf.stl" scale="0.001 0.001 0.001"/>
      </geometry>
    </collision>
  </link>
  <gazebo reference="qbshin_little_distal_link">
    <self_collide>1</self_collide>
    <!-- TODO: add other Gazebo Link properties (http://sdformat.org/spec?elem=link) -->
    <!--      <collision>-->
    <!--        <surface>-->
    <!--          <contact>-->
    <!--            <ode>-->
    <!--              <kp>1.0</kp>-->
    <!--              <kd>0.01</kd>-->
    <!--              <max_vel>0.0</max_vel>-->
    <!--              <min_depth>0.001</min_depth>-->
    <!--            </ode>-->
    <!--          </contact>-->
    <!--          <friction>-->
    <!--            <ode>-->
    <!--              <mu>0.9</mu>-->
    <!--              <mu2>0.9</mu2>-->
    <!--            </ode>-->
    <!--          </friction>-->
    <!--        </surface>-->
    <!--      </collision>-->
  </gazebo>
  <joint name="qbshin_end_effector_fixed_joint" type="fixed">
    <origin rpy="-1.57 0 0" xyz="-0.03 0.082 -0.09"/>
    <parent link="qbshin_palm_link"/>
    <child link="qbshin_end_effector_link"/>
  </joint>
  <link name="qbshin_end_effector_link"/>

  <joint name="tool0-root_link" type="fixed">
    <origin xyz="0 0 0" rpy="0 0 0" />
    <parent link="tool0" />
    <child link="root_link" />
  </joint>





</robot>
